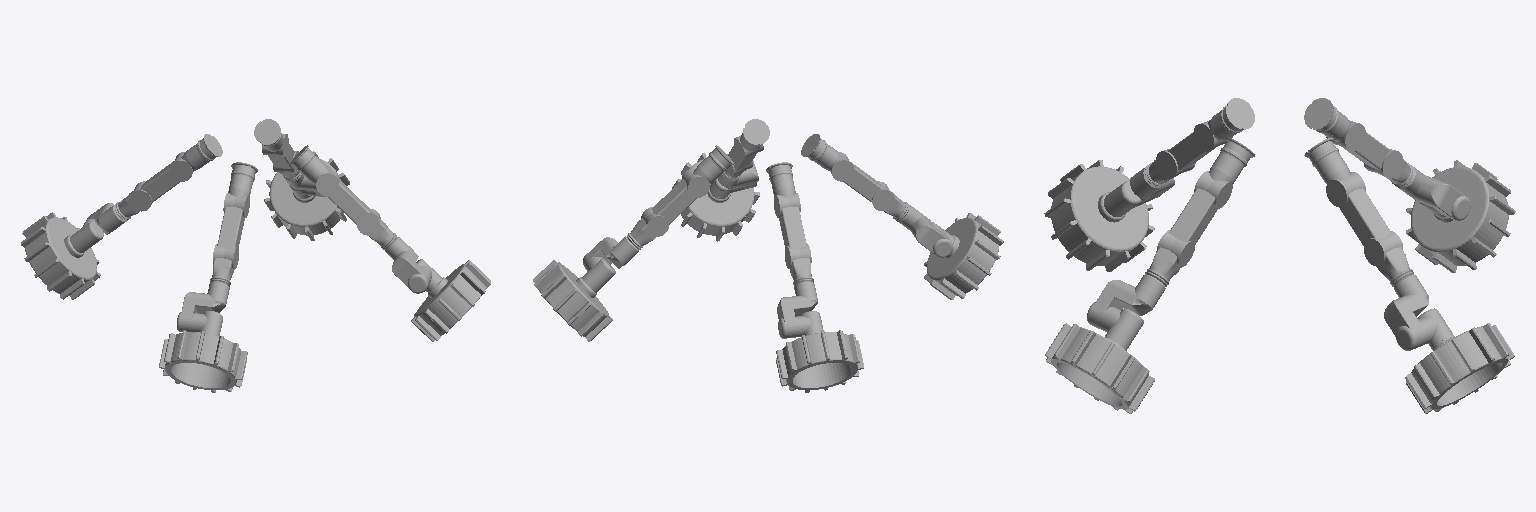
--- Render facts (derived) ---
3 views of the same robot in one strip: view 1: azimuth 30°, elevation 25°; view 2: azimuth 150°, elevation 25°; view 3: azimuth 270°, elevation 25° (orthographic).
Model moonbot2 with 69 links and 68 joints (24 continuous, 44 fixed), rooted at base_link, posed every joint at zero.
Links seen in each view (by area): view 1: Limb2Wheel_1, Limb3Wheel_1, Limb0Wheel_1, Limb1Wheel_1, Limb0Pitch1B_2, Limb3Pitch1B_1, Limb3Roll2C_1, Limb0Roll2C_2, Limb0Pitch1B__1__1, Limb0Pitch1A_2, Limb3Pitch1A_1, Limb0Pitch1A__1__1 (+3 smaller); view 2: Limb2Wheel_1, Limb3Wheel_1, Limb1Wheel_1, Limb0Wheel_1, Limb1Pitch1B_1, Limb0Roll2C__1__1, Limb0Pitch1B__1__1, Limb3Pitch1B_1, Limb3Roll2C_1, LimbRoll2C__1__1, Limb1Pitch1A_1, Limb0Pitch1A__1__1 (+3 smaller); view 3: Limb3Wheel_1, Limb2Wheel_1, Limb1Wheel_1, Limb0Wheel_1, Limb1Pitch1B_1, Limb0Pitch1B_2, LimbRoll2C__1__1, Limb0Roll2C_2, Limb0Roll2C__1__1, Limb0Pitch1B__1__1, Limb3Pitch1B_1, Limb1Pitch1A_1 (+10 smaller).
Link boxes in pixels (x1,y1,x2,y2): Limb2Wheel_1: (21, 212, 100, 299); Limb3Wheel_1: (159, 330, 247, 392); Limb0Wheel_1: (411, 260, 490, 341); Limb1Wheel_1: (264, 151, 349, 240); Limb0Pitch1B_2: (328, 180, 380, 235); Limb3Pitch1B_1: (213, 207, 244, 269); Limb3Roll2C_1: (177, 289, 227, 331); Limb0Roll2C_2: (391, 243, 429, 293); Limb0Pitch1B__1__1: (129, 161, 179, 211); Limb0Pitch1A_2: (306, 162, 339, 196); Limb3Pitch1A_1: (223, 183, 250, 217); Limb0Pitch1A__1__1: (170, 148, 202, 181); Limb2Wheel_1: (776, 330, 863, 392); Limb3Wheel_1: (924, 213, 1003, 299); Limb1Wheel_1: (533, 260, 612, 341); Limb0Wheel_1: (672, 153, 759, 241); Limb1Pitch1B_1: (641, 179, 696, 236); Limb0Roll2C__1__1: (777, 289, 817, 338); Limb0Pitch1B__1__1: (779, 207, 811, 268); Limb3Pitch1B_1: (843, 162, 894, 210); Limb3Roll2C_1: (904, 210, 952, 257); LimbRoll2C__1__1: (583, 237, 632, 269); Limb1Pitch1A_1: (682, 162, 717, 197); Limb0Pitch1A__1__1: (773, 183, 800, 217); Limb3Wheel_1: (1044, 160, 1154, 271); Limb2Wheel_1: (1406, 160, 1515, 272); Limb1Wheel_1: (1405, 323, 1514, 413); Limb0Wheel_1: (1045, 323, 1154, 413); Limb1Pitch1B_1: (1340, 188, 1402, 266); Limb0Pitch1B_2: (1156, 188, 1217, 267); LimbRoll2C__1__1: (1384, 283, 1428, 350); Limb0Roll2C_2: (1087, 280, 1159, 329); Limb0Roll2C__1__1: (1405, 171, 1470, 220); Limb0Pitch1B__1__1: (1341, 132, 1402, 178); Limb3Pitch1B_1: (1156, 133, 1214, 178); Limb1Pitch1A_1: (1321, 161, 1365, 207).
Bounding box of the posed robot: 1.22 × 1.22 × 0.6333 m (x, y, z).
Meshes: 69 distinct files referenced, 68 mesh visuals loaded (68 binary STL); not drawn: 1 (reference not matched to a file when rendering).

robot.urdf — moonbot2:
<?xml version="1.0" ?>
<!-- =================================================================================== -->
<!-- |    This document was autogenerated by xacro from moonbot2.xacro                 | -->
<!-- |    EDITING THIS FILE BY HAND IS NOT RECOMMENDED                                 | -->
<!-- =================================================================================== -->
<robot name="moonbot2">
  <material name="silver">
    <color rgba="0.700 0.700 0.700 1.000"/>
  </material>
  <transmission name="Limb0Pitch2_tran">
    <type>transmission_interface/SimpleTransmission</type>
    <joint name="Limb0Pitch2">
      <hardwareInterface>hardware_interface/EffortJointInterface</hardwareInterface>
    </joint>
    <actuator name="Limb0Pitch2_actr">
      <hardwareInterface>hardware_interface/EffortJointInterface</hardwareInterface>
      <mechanicalReduction>1</mechanicalReduction>
    </actuator>
  </transmission>
  <transmission name="Limb0Pitch1_tran">
    <type>transmission_interface/SimpleTransmission</type>
    <joint name="Limb0Pitch1">
      <hardwareInterface>hardware_interface/EffortJointInterface</hardwareInterface>
    </joint>
    <actuator name="Limb0Pitch1_actr">
      <hardwareInterface>hardware_interface/EffortJointInterface</hardwareInterface>
      <mechanicalReduction>1</mechanicalReduction>
    </actuator>
  </transmission>
  <transmission name="Limb0Roll1_tran">
    <type>transmission_interface/SimpleTransmission</type>
    <joint name="Limb0Roll1">
      <hardwareInterface>hardware_interface/EffortJointInterface</hardwareInterface>
    </joint>
    <actuator name="Limb0Roll1_actr">
      <hardwareInterface>hardware_interface/EffortJointInterface</hardwareInterface>
      <mechanicalReduction>1</mechanicalReduction>
    </actuator>
  </transmission>
  <transmission name="Limb0Roll2_tran">
    <type>transmission_interface/SimpleTransmission</type>
    <joint name="Limb0Roll2">
      <hardwareInterface>hardware_interface/EffortJointInterface</hardwareInterface>
    </joint>
    <actuator name="Limb0Roll2_actr">
      <hardwareInterface>hardware_interface/EffortJointInterface</hardwareInterface>
      <mechanicalReduction>1</mechanicalReduction>
    </actuator>
  </transmission>
  <transmission name="Limb0Pitch3_tran">
    <type>transmission_interface/SimpleTransmission</type>
    <joint name="Limb0Pitch3">
      <hardwareInterface>hardware_interface/EffortJointInterface</hardwareInterface>
    </joint>
    <actuator name="Limb0Pitch3_actr">
      <hardwareInterface>hardware_interface/EffortJointInterface</hardwareInterface>
      <mechanicalReduction>1</mechanicalReduction>
    </actuator>
  </transmission>
  <transmission name="Limb0Roll3_tran">
    <type>transmission_interface/SimpleTransmission</type>
    <joint name="Limb0Roll3">
      <hardwareInterface>hardware_interface/EffortJointInterface</hardwareInterface>
    </joint>
    <actuator name="Limb0Roll3_actr">
      <hardwareInterface>hardware_interface/EffortJointInterface</hardwareInterface>
      <mechanicalReduction>1</mechanicalReduction>
    </actuator>
  </transmission>
  <transmission name="Revolute 53_tran">
    <type>transmission_interface/SimpleTransmission</type>
    <joint name="Revolute 53">
      <hardwareInterface>hardware_interface/EffortJointInterface</hardwareInterface>
    </joint>
    <actuator name="Revolute 53_actr">
      <hardwareInterface>hardware_interface/EffortJointInterface</hardwareInterface>
      <mechanicalReduction>1</mechanicalReduction>
    </actuator>
  </transmission>
  <transmission name="Limb1Pitch1_tran">
    <type>transmission_interface/SimpleTransmission</type>
    <joint name="Limb1Pitch1">
      <hardwareInterface>hardware_interface/EffortJointInterface</hardwareInterface>
    </joint>
    <actuator name="Limb1Pitch1_actr">
      <hardwareInterface>hardware_interface/EffortJointInterface</hardwareInterface>
      <mechanicalReduction>1</mechanicalReduction>
    </actuator>
  </transmission>
  <transmission name="Limb1Pitch2_tran">
    <type>transmission_interface/SimpleTransmission</type>
    <joint name="Limb1Pitch2">
      <hardwareInterface>hardware_interface/EffortJointInterface</hardwareInterface>
    </joint>
    <actuator name="Limb1Pitch2_actr">
      <hardwareInterface>hardware_interface/EffortJointInterface</hardwareInterface>
      <mechanicalReduction>1</mechanicalReduction>
    </actuator>
  </transmission>
  <transmission name="Limb1Roll2_tran">
    <type>transmission_interface/SimpleTransmission</type>
    <joint name="Limb1Roll2">
      <hardwareInterface>hardware_interface/EffortJointInterface</hardwareInterface>
    </joint>
    <actuator name="Limb1Roll2_actr">
      <hardwareInterface>hardware_interface/EffortJointInterface</hardwareInterface>
      <mechanicalReduction>1</mechanicalReduction>
    </actuator>
  </transmission>
  <transmission name="Revolute 63_tran">
    <type>transmission_interface/SimpleTransmission</type>
    <joint name="Revolute 63">
      <hardwareInterface>hardware_interface/EffortJointInterface</hardwareInterface>
    </joint>
    <actuator name="Revolute 63_actr">
      <hardwareInterface>hardware_interface/EffortJointInterface</hardwareInterface>
      <mechanicalReduction>1</mechanicalReduction>
    </actuator>
  </transmission>
  <transmission name="Revolute 65_tran">
    <type>transmission_interface/SimpleTransmission</type>
    <joint name="Revolute 65">
      <hardwareInterface>hardware_interface/EffortJointInterface</hardwareInterface>
    </joint>
    <actuator name="Revolute 65_actr">
      <hardwareInterface>hardware_interface/EffortJointInterface</hardwareInterface>
      <mechanicalReduction>1</mechanicalReduction>
    </actuator>
  </transmission>
  <transmission name="Limb3Roll1_tran">
    <type>transmission_interface/SimpleTransmission</type>
    <joint name="Limb3Roll1">
      <hardwareInterface>hardware_interface/EffortJointInterface</hardwareInterface>
    </joint>
    <actuator name="Limb3Roll1_actr">
      <hardwareInterface>hardware_interface/EffortJointInterface</hardwareInterface>
      <mechanicalReduction>1</mechanicalReduction>
    </actuator>
  </transmission>
  <transmission name="Limb3Pitch1_tran">
    <type>transmission_interface/SimpleTransmission</type>
    <joint name="Limb3Pitch1">
      <hardwareInterface>hardware_interface/EffortJointInterface</hardwareInterface>
    </joint>
    <actuator name="Limb3Pitch1_actr">
      <hardwareInterface>hardware_interface/EffortJointInterface</hardwareInterface>
      <mechanicalReduction>1</mechanicalReduction>
    </actuator>
  </transmission>
  <transmission name="Limb3Pitch2_tran">
    <type>transmission_interface/SimpleTransmission</type>
    <joint name="Limb3Pitch2">
      <hardwareInterface>hardware_interface/EffortJointInterface</hardwareInterface>
    </joint>
    <actuator name="Limb3Pitch2_actr">
      <hardwareInterface>hardware_interface/EffortJointInterface</hardwareInterface>
      <mechanicalReduction>1</mechanicalReduction>
    </actuator>
  </transmission>
  <transmission name="Limb3Roll2_tran">
    <type>transmission_interface/SimpleTransmission</type>
    <joint name="Limb3Roll2">
      <hardwareInterface>hardware_interface/EffortJointInterface</hardwareInterface>
    </joint>
    <actuator name="Limb3Roll2_actr">
      <hardwareInterface>hardware_interface/EffortJointInterface</hardwareInterface>
      <mechanicalReduction>1</mechanicalReduction>
    </actuator>
  </transmission>
  <transmission name="Limb3Pitch3_tran">
    <type>transmission_interface/SimpleTransmission</type>
    <joint name="Limb3Pitch3">
      <hardwareInterface>hardware_interface/EffortJointInterface</hardwareInterface>
    </joint>
    <actuator name="Limb3Pitch3_actr">
      <hardwareInterface>hardware_interface/EffortJointInterface</hardwareInterface>
      <mechanicalReduction>1</mechanicalReduction>
    </actuator>
  </transmission>
  <transmission name="Limb3Roll3_tran">
    <type>transmission_interface/SimpleTransmission</type>
    <joint name="Limb3Roll3">
      <hardwareInterface>hardware_interface/EffortJointInterface</hardwareInterface>
    </joint>
    <actuator name="Limb3Roll3_actr">
      <hardwareInterface>hardware_interface/EffortJointInterface</hardwareInterface>
      <mechanicalReduction>1</mechanicalReduction>
    </actuator>
  </transmission>
  <transmission name="Limb2Roll1_tran">
    <type>transmission_interface/SimpleTransmission</type>
    <joint name="Limb2Roll1">
      <hardwareInterface>hardware_interface/EffortJointInterface</hardwareInterface>
    </joint>
    <actuator name="Limb2Roll1_actr">
      <hardwareInterface>hardware_interface/EffortJointInterface</hardwareInterface>
      <mechanicalReduction>1</mechanicalReduction>
    </actuator>
  </transmission>
  <transmission name="Limb2Pitch1_tran">
    <type>transmission_interface/SimpleTransmission</type>
    <joint name="Limb2Pitch1">
      <hardwareInterface>hardware_interface/EffortJointInterface</hardwareInterface>
    </joint>
    <actuator name="Limb2Pitch1_actr">
      <hardwareInterface>hardware_interface/EffortJointInterface</hardwareInterface>
      <mechanicalReduction>1</mechanicalReduction>
    </actuator>
  </transmission>
  <transmission name="Limb2Pitch2_tran">
    <type>transmission_interface/SimpleTransmission</type>
    <joint name="Limb2Pitch2">
      <hardwareInterface>hardware_interface/EffortJointInterface</hardwareInterface>
    </joint>
    <actuator name="Limb2Pitch2_actr">
      <hardwareInterface>hardware_interface/EffortJointInterface</hardwareInterface>
      <mechanicalReduction>1</mechanicalReduction>
    </actuator>
  </transmission>
  <transmission name="Limb2Roll2_tran">
    <type>transmission_interface/SimpleTransmission</type>
    <joint name="Limb2Roll2">
      <hardwareInterface>hardware_interface/EffortJointInterface</hardwareInterface>
    </joint>
    <actuator name="Limb2Roll2_actr">
      <hardwareInterface>hardware_interface/EffortJointInterface</hardwareInterface>
      <mechanicalReduction>1</mechanicalReduction>
    </actuator>
  </transmission>
  <transmission name="Limb2Pitch3_tran">
    <type>transmission_interface/SimpleTransmission</type>
    <joint name="Limb2Pitch3">
      <hardwareInterface>hardware_interface/EffortJointInterface</hardwareInterface>
    </joint>
    <actuator name="Limb2Pitch3_actr">
      <hardwareInterface>hardware_interface/EffortJointInterface</hardwareInterface>
      <mechanicalReduction>1</mechanicalReduction>
    </actuator>
  </transmission>
  <transmission name="Limb2Roll3_tran">
    <type>transmission_interface/SimpleTransmission</type>
    <joint name="Limb2Roll3">
      <hardwareInterface>hardware_interface/EffortJointInterface</hardwareInterface>
    </joint>
    <actuator name="Limb2Roll3_actr">
      <hardwareInterface>hardware_interface/EffortJointInterface</hardwareInterface>
      <mechanicalReduction>1</mechanicalReduction>
    </actuator>
  </transmission>
  <gazebo>
    <plugin filename="libgazebo_ros_control.so" name="control"/>
  </gazebo>
  <gazebo reference="base_link">
    <material>Gazebo/Silver</material>
    <mu1>0.2</mu1>
    <mu2>0.2</mu2>
    <selfCollide>true</selfCollide>
    <gravity>true</gravity>
  </gazebo>
  <gazebo reference="Body_connector_5">
    <material>Gazebo/Silver</material>
    <mu1>0.2</mu1>
    <mu2>0.2</mu2>
    <selfCollide>true</selfCollide>
  </gazebo>
  <gazebo reference="Limb0Connector2_2">
    <material>Gazebo/Silver</material>
    <mu1>0.2</mu1>
    <mu2>0.2</mu2>
    <selfCollide>true</selfCollide>
  </gazebo>
  <gazebo reference="Limb0Pitch2A_2">
    <material>Gazebo/Silver</material>
    <mu1>0.2</mu1>
    <mu2>0.2</mu2>
    <selfCollide>true</selfCollide>
  </gazebo>
  <gazebo reference="Limb0Pitch1B_2">
    <material>Gazebo/Silver</material>
    <mu1>0.2</mu1>
    <mu2>0.2</mu2>
    <selfCollide>true</selfCollide>
  </gazebo>
  <gazebo reference="Limb0Pitch1A_2">
    <material>Gazebo/Silver</material>
    <mu1>0.2</mu1>
    <mu2>0.2</mu2>
    <selfCollide>true</selfCollide>
  </gazebo>
  <gazebo reference="Limb0Roll1B_2">
    <material>Gazebo/Silver</material>
    <mu1>0.2</mu1>
    <mu2>0.2</mu2>
    <selfCollide>true</selfCollide>
  </gazebo>
  <gazebo reference="Limb0Connector3_3">
    <material>Gazebo/Silver</material>
    <mu1>0.2</mu1>
    <mu2>0.2</mu2>
    <selfCollide>true</selfCollide>
  </gazebo>
  <gazebo reference="Limb0Roll2A_3">
    <material>Gazebo/Silver</material>
    <mu1>0.2</mu1>
    <mu2>0.2</mu2>
    <selfCollide>true</selfCollide>
  </gazebo>
  <gazebo reference="Limb0Roll2B_2">
    <material>Gazebo/Silver</material>
    <mu1>0.2</mu1>
    <mu2>0.2</mu2>
    <selfCollide>true</selfCollide>
  </gazebo>
  <gazebo reference="Limb0Roll2C_2">
    <material>Gazebo/Silver</material>
    <mu1>0.2</mu1>
    <mu2>0.2</mu2>
    <selfCollide>true</selfCollide>
  </gazebo>
  <gazebo reference="Limb0Pitch3A_2">
    <material>Gazebo/Silver</material>
    <mu1>0.2</mu1>
    <mu2>0.2</mu2>
    <selfCollide>true</selfCollide>
  </gazebo>
  <gazebo reference="Limb0Pitch3B_2">
    <material>Gazebo/Silver</material>
    <mu1>0.2</mu1>
    <mu2>0.2</mu2>
    <selfCollide>true</selfCollide>
  </gazebo>
  <gazebo reference="Limb0Roll3A_2">
    <material>Gazebo/Silver</material>
    <mu1>0.2</mu1>
    <mu2>0.2</mu2>
    <selfCollide>true</selfCollide>
  </gazebo>
  <gazebo reference="Limb0Roll3B_2">
    <material>Gazebo/Silver</material>
    <mu1>0.2</mu1>
    <mu2>0.2</mu2>
    <selfCollide>true</selfCollide>
  </gazebo>
  <gazebo reference="Limb1Roll1B_1">
    <material>Gazebo/Silver</material>
    <mu1>0.2</mu1>
    <mu2>0.2</mu2>
    <selfCollide>true</selfCollide>
  </gazebo>
  <gazebo reference="Limb1Pitch1A_1">
    <material>Gazebo/Silver</material>
    <mu1>0.2</mu1>
    <mu2>0.2</mu2>
    <selfCollide>true</selfCollide>
  </gazebo>
  <gazebo reference="Limb1Pitch1B_1">
    <material>Gazebo/Silver</material>
    <mu1>0.2</mu1>
    <mu2>0.2</mu2>
    <selfCollide>true</selfCollide>
  </gazebo>
  <gazebo reference="Limb1Pitch2A_1">
    <material>Gazebo/Silver</material>
    <mu1>0.2</mu1>
    <mu2>0.2</mu2>
    <selfCollide>true</selfCollide>
  </gazebo>
  <gazebo reference="Limb1Connector2_1">
    <material>Gazebo/Silver</material>
    <mu1>0.2</mu1>
    <mu2>0.2</mu2>
    <selfCollide>true</selfCollide>
  </gazebo>
  <gazebo reference="Limb1Connector3_1">
    <material>Gazebo/Silver</material>
    <mu1>0.2</mu1>
    <mu2>0.2</mu2>
    <selfCollide>true</selfCollide>
  </gazebo>
  <gazebo reference="Limb1Roll2A_1">
    <material>Gazebo/Silver</material>
    <mu1>0.2</mu1>
    <mu2>0.2</mu2>
    <selfCollide>true</selfCollide>
  </gazebo>
  <gazebo reference="Limb1Roll2B_1">
    <material>Gazebo/Silver</material>
    <mu1>0.2</mu1>
    <mu2>0.2</mu2>
    <selfCollide>true</selfCollide>
  </gazebo>
  <gazebo reference="LimbRoll2C__1__1">
    <material>Gazebo/Silver</material>
    <mu1>0.2</mu1>
    <mu2>0.2</mu2>
    <selfCollide>true</selfCollide>
  </gazebo>
  <gazebo reference="Limb1Pitch3A_1">
    <material>Gazebo/Silver</material>
    <mu1>0.2</mu1>
    <mu2>0.2</mu2>
    <selfCollide>true</selfCollide>
  </gazebo>
  <gazebo reference="Limb1Pitch3B_1">
    <material>Gazebo/Silver</material>
    <mu1>0.2</mu1>
    <mu2>0.2</mu2>
    <selfCollide>true</selfCollide>
  </gazebo>
  <gazebo reference="Limb1Roll3A_1">
    <material>Gazebo/Silver</material>
    <mu1>0.2</mu1>
    <mu2>0.2</mu2>
    <selfCollide>true</selfCollide>
  </gazebo>
  <gazebo reference="Limb1Roll3B_1">
    <material>Gazebo/Silver</material>
    <mu1>0.2</mu1>
    <mu2>0.2</mu2>
    <selfCollide>true</selfCollide>
  </gazebo>
  <gazebo reference="Limb0Connector1_1">
    <material>Gazebo/Silver</material>
    <mu1>0.2</mu1>
    <mu2>0.2</mu2>
    <selfCollide>true</selfCollide>
  </gazebo>
  <gazebo reference="Body_connector__2__1">
    <material>Gazebo/Silver</material>
    <mu1>0.2</mu1>
    <mu2>0.2</mu2>
    <selfCollide>true</selfCollide>
  </gazebo>
  <gazebo reference="Limb0Roll1A_2">
    <material>Gazebo/Silver</material>
    <mu1>0.2</mu1>
    <mu2>0.2</mu2>
    <selfCollide>true</selfCollide>
  </gazebo>
  <gazebo reference="Limb1Roll1A_1">
    <material>Gazebo/Silver</material>
    <mu1>0.2</mu1>
    <mu2>0.2</mu2>
    <selfCollide>true</selfCollide>
  </gazebo>
  <gazebo reference="Limb1Connector1_1">
    <material>Gazebo/Silver</material>
    <mu1>0.2</mu1>
    <mu2>0.2</mu2>
    <selfCollide>true</selfCollide>
  </gazebo>
  <gazebo reference="Limb3BodyConnector_1">
    <material>Gazebo/Silver</material>
    <mu1>0.2</mu1>
    <mu2>0.2</mu2>
    <selfCollide>true</selfCollide>
  </gazebo>
  <gazebo reference="Body_connector__3__1">
    <material>Gazebo/Silver</material>
    <mu1>0.2</mu1>
    <mu2>0.2</mu2>
    <selfCollide>true</selfCollide>
  </gazebo>
  <gazebo reference="Limb3Roll1A_1">
    <material>Gazebo/Silver</material>
    <mu1>0.2</mu1>
    <mu2>0.2</mu2>
    <selfCollide>true</selfCollide>
  </gazebo>
  <gazebo reference="Limb3Roll1B_1">
    <material>Gazebo/Silver</material>
    <mu1>0.2</mu1>
    <mu2>0.2</mu2>
    <selfCollide>true</selfCollide>
  </gazebo>
  <gazebo reference="Limb3Pitch1A_1">
    <material>Gazebo/Silver</material>
    <mu1>0.2</mu1>
    <mu2>0.2</mu2>
    <selfCollide>true</selfCollide>
  </gazebo>
  <gazebo reference="Limb3Pitch1B_1">
    <material>Gazebo/Silver</material>
    <mu1>0.2</mu1>
    <mu2>0.2</mu2>
    <selfCollide>true</selfCollide>
  </gazebo>
  <gazebo reference="Limb3Pitch2A_1">
    <material>Gazebo/Silver</material>
    <mu1>0.2</mu1>
    <mu2>0.2</mu2>
    <selfCollide>true</selfCollide>
  </gazebo>
  <gazebo reference="Limb3Connector2_1">
    <material>Gazebo/Silver</material>
    <mu1>0.2</mu1>
    <mu2>0.2</mu2>
    <selfCollide>true</selfCollide>
  </gazebo>
  <gazebo reference="Limb3Connector3_1">
    <material>Gazebo/Silver</material>
    <mu1>0.2</mu1>
    <mu2>0.2</mu2>
    <selfCollide>true</selfCollide>
  </gazebo>
  <gazebo reference="Limb3Roll2A_1">
    <material>Gazebo/Silver</material>
    <mu1>0.2</mu1>
    <mu2>0.2</mu2>
    <selfCollide>true</selfCollide>
  </gazebo>
  <gazebo reference="Limb3Roll2B_1">
    <material>Gazebo/Silver</material>
    <mu1>0.2</mu1>
    <mu2>0.2</mu2>
    <selfCollide>true</selfCollide>
  </gazebo>
  <gazebo reference="Limb3Roll2C_1">
    <material>Gazebo/Silver</material>
    <mu1>0.2</mu1>
    <mu2>0.2</mu2>
    <selfCollide>true</selfCollide>
  </gazebo>
  <gazebo reference="Limb3Pitch3A_1">
    <material>Gazebo/Silver</material>
    <mu1>0.2</mu1>
    <mu2>0.2</mu2>
    <selfCollide>true</selfCollide>
  </gazebo>
  <gazebo reference="Limb3Pitch3B_1">
    <material>Gazebo/Silver</material>
    <mu1>0.2</mu1>
    <mu2>0.2</mu2>
    <selfCollide>true</selfCollide>
  </gazebo>
  <gazebo reference="Limb3Roll3A_1">
    <material>Gazebo/Silver</material>
    <mu1>0.2</mu1>
    <mu2>0.2</mu2>
    <selfCollide>true</selfCollide>
  </gazebo>
  <gazebo reference="Limb3Roll3B_1">
    <material>Gazebo/Silver</material>
    <mu1>0.2</mu1>
    <mu2>0.2</mu2>
    <selfCollide>true</selfCollide>
  </gazebo>
  <gazebo reference="Limb0Connector1__1__1">
    <material>Gazebo/Silver</material>
    <mu1>0.2</mu1>
    <mu2>0.2</mu2>
    <selfCollide>true</selfCollide>
  </gazebo>
  <gazebo reference="Limb0Roll1A__1__1">
    <material>Gazebo/Silver</material>
    <mu1>0.2</mu1>
    <mu2>0.2</mu2>
    <selfCollide>true</selfCollide>
  </gazebo>
  <gazebo reference="Limb0Roll1B__1__1">
    <material>Gazebo/Silver</material>
    <mu1>0.2</mu1>
    <mu2>0.2</mu2>
    <selfCollide>true</selfCollide>
  </gazebo>
  <gazebo reference="Limb0Pitch1A__1__1">
    <material>Gazebo/Silver</material>
    <mu1>0.2</mu1>
    <mu2>0.2</mu2>
    <selfCollide>true</selfCollide>
  </gazebo>
  <gazebo reference="Limb0Pitch1B__1__1">
    <material>Gazebo/Silver</material>
    <mu1>0.2</mu1>
    <mu2>0.2</mu2>
    <selfCollide>true</selfCollide>
  </gazebo>
  <gazebo reference="Limb0Pitch2A__1__1">
    <material>Gazebo/Silver</material>
    <mu1>0.2</mu1>
    <mu2>0.2</mu2>
    <selfCollide>true</selfCollide>
  </gazebo>
  <gazebo reference="Limb0Connector2__1__1">
    <material>Gazebo/Silver</material>
    <mu1>0.2</mu1>
    <mu2>0.2</mu2>
    <selfCollide>true</selfCollide>
  </gazebo>
  <gazebo reference="Limb0Connector3__1__1">
    <material>Gazebo/Silver</material>
    <mu1>0.2</mu1>
    <mu2>0.2</mu2>
    <selfCollide>true</selfCollide>
  </gazebo>
  <gazebo reference="Limb0Roll2A__1__1">
    <material>Gazebo/Silver</material>
    <mu1>0.2</mu1>
    <mu2>0.2</mu2>
    <selfCollide>true</selfCollide>
  </gazebo>
  <gazebo reference="Limb0Roll2B__1__1">
    <material>Gazebo/Silver</material>
    <mu1>0.2</mu1>
    <mu2>0.2</mu2>
    <selfCollide>true</selfCollide>
  </gazebo>
  <gazebo reference="Limb0Roll2C__1__1">
    <material>Gazebo/Silver</material>
    <mu1>0.2</mu1>
    <mu2>0.2</mu2>
    <selfCollide>true</selfCollide>
  </gazebo>
  <gazebo reference="Limb0Pitch3A__1__1">
    <material>Gazebo/Silver</material>
    <mu1>0.2</mu1>
    <mu2>0.2</mu2>
    <selfCollide>true</selfCollide>
  </gazebo>
  <gazebo reference="Limb0Pitch3B__1__1">
    <material>Gazebo/Silver</material>
    <mu1>0.2</mu1>
    <mu2>0.2</mu2>
    <selfCollide>true</selfCollide>
  </gazebo>
  <gazebo reference="Limb0Roll3A__1__1">
    <material>Gazebo/Silver</material>
    <mu1>0.2</mu1>
    <mu2>0.2</mu2>
    <selfCollide>true</selfCollide>
  </gazebo>
  <gazebo reference="Limb0Roll3B__1__1">
    <material>Gazebo/Silver</material>
    <mu1>0.2</mu1>
    <mu2>0.2</mu2>
    <selfCollide>true</selfCollide>
  </gazebo>
  <gazebo reference="Limb3Wheel_1">
    <material>Gazebo/Silver</material>
    <mu1>0.2</mu1>
    <mu2>0.2</mu2>
    <selfCollide>true</selfCollide>
  </gazebo>
  <gazebo reference="Limb2Wheel_1">
    <material>Gazebo/Silver</material>
    <mu1>0.2</mu1>
    <mu2>0.2</mu2>
    <selfCollide>true</selfCollide>
  </gazebo>
  <gazebo reference="Limb0Wheel_1">
    <material>Gazebo/Silver</material>
    <mu1>0.2</mu1>
    <mu2>0.2</mu2>
    <selfCollide>true</selfCollide>
  </gazebo>
  <gazebo reference="Limb1Wheel_1">
    <material>Gazebo/Silver</material>
    <mu1>0.2</mu1>
    <mu2>0.2</mu2>
    <selfCollide>true</selfCollide>
  </gazebo>
  <gazebo reference="Connector4_1">
    <material>Gazebo/Silver</material>
    <mu1>0.2</mu1>
    <mu2>0.2</mu2>
    <selfCollide>true</selfCollide>
  </gazebo>
  <link name="base_link">
    <inertial>
      <origin rpy="0 0 0" xyz="-0.002718753748846342 -0.002205739141353069 0.7033681348241015"/>
      <mass value="83.58553795695674"/>
      <inertia ixx="0.627961" ixy="6e-06" ixz="0.001498" iyy="0.622623" iyz="-1.7e-05" izz="0.957797"/>
    </inertial>
    <visual>
      <origin rpy="0 0 0" xyz="0 0 0"/>
      <geometry>
        <mesh filename="package://rviz_basic/meshes/base_link.stl" scale="0.001 0.001 0.001"/>
      </geometry>
      <material name="silver"/>
    </visual>
    <collision>
      <origin rpy="0 0 0" xyz="0 0 0"/>
      <geometry>
        <mesh filename="package://rviz_basic/meshes/base_link.stl" scale="0.001 0.001 0.001"/>
      </geometry>
    </collision>
  </link>
  <link name="Body_connector_5">
    <inertial>
      <origin rpy="0 0 0" xyz="-0.00677930927205897 0.006691164760938034 -0.00852535545613553"/>
      <mass value="1.00227146305622"/>
      <inertia ixx="0.000536" ixy="-8.8e-05" ixz="0.000112" iyy="0.000536" iyz="-0.000112" izz="0.00059"/>
    </inertial>
    <visual>
      <origin rpy="0 0 0" xyz="0.104123 -0.099642 -0.676307"/>
      <geometry>
        <mesh filename="package://rviz_basic/meshes/Body_connector_5.stl" scale="0.001 0.001 0.001"/>
      </geometry>
      <material name="silver"/>
    </visual>
    <collision>
      <origin rpy="0 0 0" xyz="0.104123 -0.099642 -0.676307"/>
      <geometry>
        <mesh filename="package://rviz_basic/meshes/Body_connector_5.stl" scale="0.001 0.001 0.001"/>
      </geometry>
    </collision>
  </link>
  <link name="Limb0Connector2_2">
    <inertial>
      <origin rpy="0 0 0" xyz="0.002103021656725712 -0.00210349984971947 -0.0026738550137934136"/>
      <mass value="0.028818583393616055"/>
      <inertia ixx="1e-05" ixy="-2e-06" ixz="-3e-06" iyy="1e-05" iyz="3e-06" izz="1.1e-05"/>
    </inertial>
    <visual>
      <origin rpy="0 0 0" xyz="-0.311981 0.316466 -0.406184"/>
      <geometry>
        <mesh filename="package://rviz_basic/meshes/Limb0Connector2_2.stl" scale="0.001 0.001 0.001"/>
      </geometry>
      <material name="silver"/>
    </visual>
    <collision>
      <origin rpy="0 0 0" xyz="-0.311981 0.316466 -0.406184"/>
      <geometry>
        <mesh filename="package://rviz_basic/meshes/Limb0Connector2_2.stl" scale="0.001 0.001 0.001"/>
      </geometry>
    </collision>
  </link>
  <link name="Limb0Pitch2A_2">
    <inertial>
      <origin rpy="0 0 0" xyz="0.029959620301540757 -0.029959103553448052 -0.03808776464443614"/>
      <mass value="0.18660217560053788"/>
      <inertia ixx="9.9e-05" ixy="-0.0" ixz="-4e-06" iyy="0.000101" iyz="2e-06" izz="0.0001"/>
    </inertial>
    <visual>
      <origin rpy="0 0 0" xyz="-0.267282 0.271768 -0.46301"/>
      <geometry>
        <mesh filename="package://rviz_basic/meshes/Limb0Pitch2A_2.stl" scale="0.001 0.001 0.001"/>
      </geometry>
      <material name="silver"/>
    </visual>
    <collision>
      <origin rpy="0 0 0" xyz="-0.267282 0.271768 -0.46301"/>
      <geometry>
        <mesh filename="package://rviz_basic/meshes/Limb0Pitch2A_2.stl" scale="0.001 0.001 0.001"/>
      </geometry>
    </collision>
  </link>
  <link name="Limb0Pitch1B_2">
    <inertial>
      <origin rpy="0 0 0" xyz="0.06822924852709525 -0.0682287306107931 -0.0867406044238917"/>
      <mass value="0.7729993259283914"/>
      <inertia ixx="0.001978" ixy="0.000552" ixz="0.000714" iyy="0.001971" iyz="-0.000709" izz="0.001637"/>
    </inertial>
    <visual>
      <origin rpy="0 0 0" xyz="-0.169998 0.174484 -0.586689"/>
      <geometry>
        <mesh filename="package://rviz_basic/meshes/Limb0Pitch1B_2.stl" scale="0.001 0.001 0.001"/>
      </geometry>
      <material name="silver"/>
    </visual>
    <collision>
      <origin rpy="0 0 0" xyz="-0.169998 0.174484 -0.586689"/>
      <geometry>
        <mesh filename="package://rviz_basic/meshes/Limb0Pitch1B_2.stl" scale="0.001 0.001 0.001"/>
      </geometry>
    </collision>
  </link>
  <link name="Limb0Pitch1A_2">
    <inertial>
      <origin rpy="0 0 0" xyz="0.02622252256340238 -0.026226373841744727 -0.03333985784790783"/>
      <mass value="3.3477117479193077"/>
      <inertia ixx="0.003424" ixy="0.000327" ixz="0.000518" iyy="0.003364" iyz="-0.000471" izz="0.003217"/>
    </inertial>
    <visual>
      <origin rpy="0 0 0" xyz="-0.135835 0.140315 -0.630126"/>
      <geometry>
        <mesh filename="package://rviz_basic/meshes/Limb0Pitch1A_2.stl" scale="0.001 0.001 0.001"/>
      </geometry>
      <material name="silver"/>
    </visual>
    <collision>
      <origin rpy="0 0 0" xyz="-0.135835 0.140315 -0.630126"/>
      <geometry>
        <mesh filename="package://rviz_basic/meshes/Limb0Pitch1A_2.stl" scale="0.001 0.001 0.001"/>
      </geometry>
    </collision>
  </link>
  <link name="Limb0Roll1B_2">
    <inertial>
      <origin rpy="0 0 0" xyz="0.0013142684746978994 -0.0013146802594786178 -0.0016713372811122396"/>
      <mass value="0.1621742617893587"/>
      <inertia ixx="6.8e-05" ixy="-1.5e-05" ixz="-1.9e-05" iyy="6.8e-05" iyz="1.9e-05" izz="7.7e-05"/>
    </inertial>
    <visual>
      <origin rpy="0 0 0" xyz="-0.133206 0.137686 -0.633469"/>
      <geometry>
        <mesh filename="package://rviz_basic/meshes/Limb0Roll1B_2.stl" scale="0.001 0.001 0.001"/>
      </geometry>
      <material name="silver"/>
    </visual>
    <collision>
      <origin rpy="0 0 0" xyz="-0.133206 0.137686 -0.633469"/>
      <geometry>
        <mesh filename="package://rviz_basic/meshes/Limb0Roll1B_2.stl" scale="0.001 0.001 0.001"/>
      </geometry>
    </collision>
  </link>
  <link name="Limb0Connector3_3">
    <inertial>
      <origin rpy="0 0 0" xyz="0.0020728386970867985 -0.0020723168893330146 -0.0026346561677129676"/>
      <mass value="0.028067093486926365"/>
      <inertia ixx="1e-05" ixy="-2e-06" ixz="-3e-06" iyy="1e-05" iyz="3e-06" izz="1.1e-05"/>
    </inertial>
    <visual>
      <origin rpy="0 0 0" xyz="-0.316187 0.320673 -0.400836"/>
      <geometry>
        <mesh filename="package://rviz_basic/meshes/Limb0Connector3_3.stl" scale="0.001 0.001 0.001"/>
      </geometry>
      <material name="silver"/>
    </visual>
    <collision>
      <origin rpy="0 0 0" xyz="-0.316187 0.320673 -0.400836"/>
      <geometry>
        <mesh filename="package://rviz_basic/meshes/Limb0Connector3_3.stl" scale="0.001 0.001 0.001"/>
      </geometry>
    </collision>
  </link>
  <link name="Limb0Roll2A_3">
    <inertial>
      <origin rpy="0 0 0" xyz="0.006681624363454208 -0.006681102554122131 -0.008494343828823636"/>
      <mass value="0.09449902324417689"/>
      <inertia ixx="3.8e-05" ixy="-6e-06" ixz="-8e-06" iyy="3.8e-05" iyz="8e-06" izz="4.2e-05"/>
    </inertial>
    <visual>
      <origin rpy="0 0 0" xyz="-0.320394 0.32488 -0.395488"/>
      <geometry>
        <mesh filename="package://rviz_basic/meshes/Limb0Roll2A_3.stl" scale="0.001 0.001 0.001"/>
      </geometry>
      <material name="silver"/>
    </visual>
    <collision>
      <origin rpy="0 0 0" xyz="-0.320394 0.32488 -0.395488"/>
      <geometry>
        <mesh filename="package://rviz_basic/meshes/Limb0Roll2A_3.stl" scale="0.001 0.001 0.001"/>
      </geometry>
    </collision>
  </link>
  <link name="Limb0Roll2B_2">
    <inertial>
      <origin rpy="0 0 0" xyz="0.0013145066946149697 -0.001314984883888537 -0.0016710665060420404"/>
      <mass value="0.14254348347132964"/>
      <inertia ixx="5.3e-05" ixy="-1.1e-05" ixz="-1.4e-05" iyy="5.3e-05" iyz="1.4e-05" izz="6e-05"/>
    </inertial>
    <visual>
      <origin rpy="0 0 0" xyz="-0.333541 0.338026 -0.378774"/>
      <geometry>
        <mesh filename="package://rviz_basic/meshes/Limb0Roll2B_2.stl" scale="0.001 0.001 0.001"/>
      </geometry>
      <material name="silver"/>
    </visual>
    <collision>
      <origin rpy="0 0 0" xyz="-0.333541 0.338026 -0.378774"/>
      <geometry>
        <mesh filename="package://rviz_basic/meshes/Limb0Roll2B_2.stl" scale="0.001 0.001 0.001"/>
      </geometry>
    </collision>
  </link>
  <link name="Limb0Roll2C_2">
    <inertial>
      <origin rpy="0 0 0" xyz="-0.0003246307642108537 -0.07136701847741012 -0.03596102418659597"/>
      <mass value="5.5447698039525"/>
      <inertia ixx="0.015358" ixy="-0.000788" ixz="0.000257" iyy="0.006867" iyz="-0.004143" izz="0.01392"/>
    </inertial>
    <visual>
      <origin rpy="0 0 0" xyz="-0.33617 0.340656 -0.375432"/>
      <geometry>
        <mesh filename="package://rviz_basic/meshes/Limb0Roll2C_2.stl" scale="0.001 0.001 0.001"/>
      </geometry>
      <material name="silver"/>
    </visual>
    <collision>
      <origin rpy="0 0 0" xyz="-0.33617 0.340656 -0.375432"/>
      <geometry>
        <mesh filename="package://rviz_basic/meshes/Limb0Roll2C_2.stl" scale="0.001 0.001 0.001"/>
      </geometry>
    </collision>
  </link>
  <link name="Limb0Pitch3A_2">
    <inertial>
      <origin rpy="0 0 0" xyz="0.0007974074761619154 0.00095487844214176 -0.0001240472342625143"/>
      <mass value="0.07127174173566476"/>
      <inertia ixx="2.9e-05" ixy="1e-05" ixz="-1e-06" iyy="3.3e-05" iyz="-2e-06" izz="2.1e-05"/>
    </inertial>
    <visual>
      <origin rpy="0 0 0" xyz="-0.36158 0.443149 -0.304018"/>
      <geometry>
        <mesh filename="package://rviz_basic/meshes/Limb0Pitch3A_2.stl" scale="0.001 0.001 0.001"/>
      </geometry>
      <material name="silver"/>
    </visual>
    <collision>
      <origin rpy="0 0 0" xyz="-0.36158 0.443149 -0.304018"/>
      <geometry>
        <mesh filename="package://rviz_basic/meshes/Limb0Pitch3A_2.stl" scale="0.001 0.001 0.001"/>
      </geometry>
    </collision>
  </link>
  <link name="Limb0Pitch3B_2">
    <inertial>
      <origin rpy="0 0 0" xyz="0.0007972556022602384 0.000954808730158685 -0.0001246723453181553"/>
      <mass value="0.07127174173566476"/>
      <inertia ixx="2.9e-05" ixy="1e-05" ixz="-1e-06" iyy="3.3e-05" iyz="-2e-06" izz="2.1e-05"/>
    </inertial>
    <visual>
      <origin rpy="0 0 0" xyz="-0.363174 0.441239 -0.30377"/>
      <geometry>
        <mesh filename="package://rviz_basic/meshes/Limb0Pitch3B_2.stl" scale="0.001 0.001 0.001"/>
      </geometry>
      <material name="silver"/>
    </visual>
    <collision>
      <origin rpy="0 0 0" xyz="-0.363174 0.441239 -0.30377"/>
      <geometry>
        <mesh filename="package://rviz_basic/meshes/Limb0Pitch3B_2.stl" scale="0.001 0.001 0.001"/>
      </geometry>
    </collision>
  </link>
  <link name="Limb0Roll3A_2">
    <inertial>
      <origin rpy="0 0 0" xyz="0.02690119223229953 0.03172481863983617 -0.004455451652114806"/>
      <mass value="2.8490901932138626"/>
      <inertia ixx="0.002365" ixy="-0.000127" ixz="0.000201" iyy="0.002287" iyz="-0.000118" izz="0.002499"/>
    </inertial>
    <visual>
      <origin rpy="0 0 0" xyz="-0.364768 0.439329 -0.303521"/>
      <geometry>
        <mesh filename="package://rviz_basic/meshes/Limb0Roll3A_2.stl" scale="0.001 0.001 0.001"/>
      </geometry>
      <material name="silver"/>
    </visual>
    <collision>
      <origin rpy="0 0 0" xyz="-0.364768 0.439329 -0.303521"/>
      <geometry>
        <mesh filename="package://rviz_basic/meshes/Limb0Roll3A_2.stl" scale="0.001 0.001 0.001"/>
      </geometry>
    </collision>
  </link>
  <link name="Limb0Roll3B_2">
    <inertial>
      <origin rpy="0 0 0" xyz="0.002628818559336943 -0.0026292967333145234 -0.003342328974139386"/>
      <mass value="0.28508696694265934"/>
      <inertia ixx="0.000107" ixy="-2.2e-05" ixz="-2.8e-05" iyy="0.000107" iyz="2.8e-05" izz="0.000121"/>
    </inertial>
    <visual>
      <origin rpy="0 0 0" xyz="-0.417679 0.422164 -0.271808"/>
      <geometry>
        <mesh filename="package://rviz_basic/meshes/Limb0Roll3B_2.stl" scale="0.001 0.001 0.001"/>
      </geometry>
      <material name="silver"/>
    </visual>
    <collision>
      <origin rpy="0 0 0" xyz="-0.417679 0.422164 -0.271808"/>
      <geometry>
        <mesh filename="package://rviz_basic/meshes/Limb0Roll3B_2.stl" scale="0.001 0.001 0.001"/>
      </geometry>
    </collision>
  </link>
  <link name="Limb1Roll1B_1">
    <inertial>
      <origin rpy="0 0 0" xyz="0.001314715250233106 0.0013146995287366126 -0.0016716503046055875"/>
      <mass value="0.1621742617893587"/>
      <inertia ixx="6.8e-05" ixy="1.5e-05" ixz="-1.9e-05" iyy="6.8e-05" iyz="-1.9e-05" izz="7.7e-05"/>
    </inertial>
    <visual>
      <origin rpy="0 0 0" xyz="-0.133236 -0.133352 -0.633562"/>
      <geometry>
        <mesh filename="package://rviz_basic/meshes/Limb1Roll1B_1.stl" scale="0.001 0.001 0.001"/>
      </geometry>
      <material name="silver"/>
    </visual>
    <collision>
      <origin rpy="0 0 0" xyz="-0.133236 -0.133352 -0.633562"/>
      <geometry>
        <mesh filename="package://rviz_basic/meshes/Limb1Roll1B_1.stl" scale="0.001 0.001 0.001"/>
      </geometry>
    </collision>
  </link>
  <link name="Limb1Pitch1A_1">
    <inertial>
      <origin rpy="0 0 0" xyz="0.026225903022392 0.02622280443795691 -0.03334068607561047"/>
      <mass value="3.3477117479193077"/>
      <inertia ixx="0.003389" ixy="-0.000316" ixz="0.000499" iyy="0.003392" iyz="0.000501" izz="0.003225"/>
    </inertial>
    <visual>
      <origin rpy="0 0 0" xyz="-0.135865 -0.135981 -0.630219"/>
      <geometry>
        <mesh filename="package://rviz_basic/meshes/Limb1Pitch1A_1.stl" scale="0.001 0.001 0.001"/>
      </geometry>
      <material name="silver"/>
    </visual>
    <collision>
      <origin rpy="0 0 0" xyz="-0.135865 -0.135981 -0.630219"/>
      <geometry>
        <mesh filename="package://rviz_basic/meshes/Limb1Pitch1A_1.stl" scale="0.001 0.001 0.001"/>
      </geometry>
    </collision>
  </link>
  <link name="Limb1Pitch1B_1">
    <inertial>
      <origin rpy="0 0 0" xyz="0.06822898471093783 0.0682285127569274 -0.08674066290451965"/>
      <mass value="0.7729993259283914"/>
      <inertia ixx="0.001974" ixy="-0.000551" ixz="0.000712" iyy="0.001974" iyz="0.000712" izz="0.001638"/>
    </inertial>
    <visual>
      <origin rpy="0 0 0" xyz="-0.170033 -0.170145 -0.586781"/>
      <geometry>
        <mesh filename="package://rviz_basic/meshes/Limb1Pitch1B_1.stl" scale="0.001 0.001 0.001"/>
      </geometry>
      <material name="silver"/>
    </visual>
    <collision>
      <origin rpy="0 0 0" xyz="-0.170033 -0.170145 -0.586781"/>
      <geometry>
        <mesh filename="package://rviz_basic/meshes/Limb1Pitch1B_1.stl" scale="0.001 0.001 0.001"/>
      </geometry>
    </collision>
  </link>
  <link name="Limb1Pitch2A_1">
    <inertial>
      <origin rpy="0 0 0" xyz="0.029959346570444356 0.029958879463168275 -0.03808783582946196"/>
      <mass value="0.18660217560053788"/>
      <inertia ixx="0.0001" ixy="-0.0" ixz="-3e-06" iyy="0.0001" iyz="-3e-06" izz="9.9e-05"/>
    </inertial>
    <visual>
      <origin rpy="0 0 0" xyz="-0.267317 -0.267429 -0.463102"/>
      <geometry>
        <mesh filename="package://rviz_basic/meshes/Limb1Pitch2A_1.stl" scale="0.001 0.001 0.001"/>
      </geometry>
      <material name="silver"/>
    </visual>
    <collision>
      <origin rpy="0 0 0" xyz="-0.267317 -0.267429 -0.463102"/>
      <geometry>
        <mesh filename="package://rviz_basic/meshes/Limb1Pitch2A_1.stl" scale="0.001 0.001 0.001"/>
      </geometry>
    </collision>
  </link>
  <link name="Limb1Connector2_1">
    <inertial>
      <origin rpy="0 0 0" xyz="0.0021037524558481513 0.002103278638910855 -0.002673920370475591"/>
      <mass value="0.028818583393616055"/>
      <inertia ixx="1e-05" ixy="2e-06" ixz="-3e-06" iyy="1e-05" iyz="-3e-06" izz="1.1e-05"/>
    </inertial>
    <visual>
      <origin rpy="0 0 0" xyz="-0.312015 -0.312127 -0.406276"/>
      <geometry>
        <mesh filename="package://rviz_basic/meshes/Limb1Connector2_1.stl" scale="0.001 0.001 0.001"/>
      </geometry>
      <material name="silver"/>
    </visual>
    <collision>
      <origin rpy="0 0 0" xyz="-0.312015 -0.312127 -0.406276"/>
      <geometry>
        <mesh filename="package://rviz_basic/meshes/Limb1Connector2_1.stl" scale="0.001 0.001 0.001"/>
      </geometry>
    </collision>
  </link>
  <link name="Limb1Connector3_1">
    <inertial>
      <origin rpy="0 0 0" xyz="0.002072569494944443 0.002072095680584418 -0.002634721523767869"/>
      <mass value="0.028067093486926365"/>
      <inertia ixx="1e-05" ixy="2e-06" ixz="-3e-06" iyy="1e-05" iyz="-3e-06" izz="1.1e-05"/>
    </inertial>
    <visual>
      <origin rpy="0 0 0" xyz="-0.316222 -0.316334 -0.400928"/>
      <geometry>
        <mesh filename="package://rviz_basic/meshes/Limb1Connector3_1.stl" scale="0.001 0.001 0.001"/>
      </geometry>
      <material name="silver"/>
    </visual>
    <collision>
      <origin rpy="0 0 0" xyz="-0.316222 -0.316334 -0.400928"/>
      <geometry>
        <mesh filename="package://rviz_basic/meshes/Limb1Connector3_1.stl" scale="0.001 0.001 0.001"/>
      </geometry>
    </collision>
  </link>
  <link name="Limb1Roll2A_1">
    <inertial>
      <origin rpy="0 0 0" xyz="0.006681355158644264 0.006680881349721002 -0.008494409183558094"/>
      <mass value="0.09449902324417689"/>
      <inertia ixx="3.8e-05" ixy="6e-06" ixz="-8e-06" iyy="3.8e-05" iyz="-8e-06" izz="4.2e-05"/>
    </inertial>
    <visual>
      <origin rpy="0 0 0" xyz="-0.320429 -0.320541 -0.39558"/>
      <geometry>
        <mesh filename="package://rviz_basic/meshes/Limb1Roll2A_1.stl" scale="0.001 0.001 0.001"/>
      </geometry>
      <material name="silver"/>
    </visual>
    <collision>
      <origin rpy="0 0 0" xyz="-0.320429 -0.320541 -0.39558"/>
      <geometry>
        <mesh filename="package://rviz_basic/meshes/Limb1Roll2A_1.stl" scale="0.001 0.001 0.001"/>
      </geometry>
    </collision>
  </link>
  <link name="Limb1Roll2B_1">
    <inertial>
      <origin rpy="0 0 0" xyz="0.001314237487446246 0.0013147636833246157 -0.0016711318596070446"/>
      <mass value="0.14254348347132964"/>
      <inertia ixx="5.3e-05" ixy="1.1e-05" ixz="-1.4e-05" iyy="5.3e-05" iyz="-1.4e-05" izz="6e-05"/>
    </inertial>
    <visual>
      <origin rpy="0 0 0" xyz="-0.333576 -0.333687 -0.378866"/>
      <geometry>
        <mesh filename="package://rviz_basic/meshes/Limb1Roll2B_1.stl" scale="0.001 0.001 0.001"/>
      </geometry>
      <material name="silver"/>
    </visual>
    <collision>
      <origin rpy="0 0 0" xyz="-0.333576 -0.333687 -0.378866"/>
      <geometry>
        <mesh filename="package://rviz_basic/meshes/Limb1Roll2B_1.stl" scale="0.001 0.001 0.001"/>
      </geometry>
    </collision>
  </link>
  <link name="LimbRoll2C__1__1">
    <inertial>
      <origin rpy="0 0 0" xyz="0.06879531516956255 -0.0035389192688810023 -0.04051265787606534"/>
      <mass value="5.5447698039525"/>
      <inertia ixx="0.007579" ixy="0.001164" ixz="0.00462" iyy="0.015187" iyz="-5.5e-05" izz="0.013379"/>
    </inertial>
    <visual>
      <origin rpy="0 0 0" xyz="-0.336205 -0.336316 -0.375524"/>
      <geometry>
        <mesh filename="package://rviz_basic/meshes/LimbRoll2C__1__1.stl" scale="0.001 0.001 0.001"/>
      </geometry>
      <material name="silver"/>
    </visual>
    <collision>
      <origin rpy="0 0 0" xyz="-0.336205 -0.336316 -0.375524"/>
      <geometry>
        <mesh filename="package://rviz_basic/meshes/LimbRoll2C__1__1.stl" scale="0.001 0.001 0.001"/>
      </geometry>
    </collision>
  </link>
  <link name="Limb1Pitch3A_1">
    <inertial>
      <origin rpy="0 0 0" xyz="-0.000892133048895849 0.0008759498560332313 -1.2716647066313147e-05"/>
      <mass value="0.07127174173566476"/>
      <inertia ixx="3.1e-05" ixy="-1e-05" ixz="0.0" iyy="3.1e-05" iyz="-0.0" izz="2.1e-05"/>
    </inertial>
    <visual>
      <origin rpy="0 0 0" xyz="-0.435933 -0.35827 -0.299216"/>
      <geometry>
        <mesh filename="package://rviz_basic/meshes/Limb1Pitch3A_1.stl" scale="0.001 0.001 0.001"/>
      </geometry>
      <material name="silver"/>
    </visual>
    <collision>
      <origin rpy="0 0 0" xyz="-0.435933 -0.35827 -0.299216"/>
      <geometry>
        <mesh filename="package://rviz_basic/meshes/Limb1Pitch3A_1.stl" scale="0.001 0.001 0.001"/>
      </geometry>
    </collision>
  </link>
  <link name="Limb1Pitch3B_1">
    <inertial>
      <origin rpy="0 0 0" xyz="-0.0008923653274860999 0.0008759009880966451 -1.289505726209672e-05"/>
      <mass value="0.07127174173566476"/>
      <inertia ixx="3.1e-05" ixy="-1e-05" ixz="0.0" iyy="3.1e-05" iyz="-0.0" izz="2.1e-05"/>
    </inertial>
    <visual>
      <origin rpy="0 0 0" xyz="-0.434149 -0.360021 -0.29919"/>
      <geometry>
        <mesh filename="package://rviz_basic/meshes/Limb1Pitch3B_1.stl" scale="0.001 0.001 0.001"/>
      </geometry>
      <material name="silver"/>
    </visual>
    <collision>
      <origin rpy="0 0 0" xyz="-0.434149 -0.360021 -0.29919"/>
      <geometry>
        <mesh filename="package://rviz_basic/meshes/Limb1Pitch3B_1.stl" scale="0.001 0.001 0.001"/>
      </geometry>
    </collision>
  </link>
  <link name="Limb1Roll3A_1">
    <inertial>
      <origin rpy="0 0 0" xyz="-0.029622317213466032 0.029530074249443317 -0.0007334196749793631"/>
      <mass value="2.8490901932138626"/>
      <inertia ixx="0.002326" ixy="0.000133" ixz="0.000154" iyy="0.00232" iyz="0.000172" izz="0.002505"/>
    </inertial>
    <visual>
      <origin rpy="0 0 0" xyz="-0.432365 -0.361772 -0.299164"/>
      <geometry>
        <mesh filename="package://rviz_basic/meshes/Limb1Roll3A_1.stl" scale="0.001 0.001 0.001"/>
      </geometry>
      <material name="silver"/>
    </visual>
    <collision>
      <origin rpy="0 0 0" xyz="-0.432365 -0.361772 -0.299164"/>
      <geometry>
        <mesh filename="package://rviz_basic/meshes/Limb1Roll3A_1.stl" scale="0.001 0.001 0.001"/>
      </geometry>
    </collision>
  </link>
  <link name="Limb1Roll3B_1">
    <inertial>
      <origin rpy="0 0 0" xyz="0.002629549326306546 0.0026290755748996086 -0.0033423943148920277"/>
      <mass value="0.28508696694265934"/>
      <inertia ixx="0.000107" ixy="2.2e-05" ixz="-2.8e-05" iyy="0.000107" iyz="-2.8e-05" izz="0.000121"/>
    </inertial>
    <visual>
      <origin rpy="0 0 0" xyz="-0.417713 -0.417825 -0.2719"/>
      <geometry>
        <mesh filename="package://rviz_basic/meshes/Limb1Roll3B_1.stl" scale="0.001 0.001 0.001"/>
      </geometry>
      <material name="silver"/>
    </visual>
    <collision>
      <origin rpy="0 0 0" xyz="-0.417713 -0.417825 -0.2719"/>
      <geometry>
        <mesh filename="package://rviz_basic/meshes/Limb1Roll3B_1.stl" scale="0.001 0.001 0.001"/>
      </geometry>
    </collision>
  </link>
  <link name="Limb0Connector1_1">
    <inertial>
      <origin rpy="0 0 0" xyz="0.002882044955110477 -0.0028824567425736886 -0.0036644034918792423"/>
      <mass value="0.41151751450909346"/>
      <inertia ixx="0.000202" ixy="-4.2e-05" ixz="-5.4e-05" iyy="0.000202" iyz="5.4e-05" izz="0.000228"/>
    </inertial>
    <visual>
      <origin rpy="0 0 0" xyz="-0.113749 0.118229 -0.658205"/>
      <geometry>
        <mesh filename="package://rviz_basic/meshes/Limb0Connector1_1.stl" scale="0.001 0.001 0.001"/>
      </geometry>
      <material name="silver"/>
    </visual>
    <collision>
      <origin rpy="0 0 0" xyz="-0.113749 0.118229 -0.658205"/>
      <geometry>
        <mesh filename="package://rviz_basic/meshes/Limb0Connector1_1.stl" scale="0.001 0.001 0.001"/>
      </geometry>
    </collision>
  </link>
  <link name="Body_connector__2__1">
    <inertial>
      <origin rpy="0 0 0" xyz="0.006689645187671248 -0.006690019077090437 -0.008597503863414846"/>
      <mass value="1.00227146305622"/>
      <inertia ixx="0.000536" ixy="-8.8e-05" ixz="-0.000112" iyy="0.000536" iyz="0.000112" izz="0.00059"/>
    </inertial>
    <visual>
      <origin rpy="0 0 0" xyz="-0.099583 0.104063 -0.676307"/>
      <geometry>
        <mesh filename="package://rviz_basic/meshes/Body_connector__2__1.stl" scale="0.001 0.001 0.001"/>
      </geometry>
      <material name="silver"/>
    </visual>
    <collision>
      <origin rpy="0 0 0" xyz="-0.099583 0.104063 -0.676307"/>
      <geometry>
        <mesh filename="package://rviz_basic/meshes/Body_connector__2__1.stl" scale="0.001 0.001 0.001"/>
      </geometry>
    </collision>
  </link>
  <link name="Limb0Roll1A_2">
    <inertial>
      <origin rpy="0 0 0" xyz="0.0068180092992543295 -0.006817421085496864 -0.008667591900487825"/>
      <mass value="0.8458457350592995"/>
      <inertia ixx="0.000391" ixy="-6.4e-05" ixz="-8.1e-05" iyy="0.000391" iyz="8.1e-05" izz="0.00043"/>
    </inertial>
    <visual>
      <origin rpy="0 0 0" xyz="-0.119533 0.124014 -0.650851"/>
      <geometry>
        <mesh filename="package://rviz_basic/meshes/Limb0Roll1A_2.stl" scale="0.001 0.001 0.001"/>
      </geometry>
      <material name="silver"/>
    </visual>
    <collision>
      <origin rpy="0 0 0" xyz="-0.119533 0.124014 -0.650851"/>
      <geometry>
        <mesh filename="package://rviz_basic/meshes/Limb0Roll1A_2.stl" scale="0.001 0.001 0.001"/>
      </geometry>
    </collision>
  </link>
  <link name="Limb1Roll1A_1">
    <inertial>
      <origin rpy="0 0 0" xyz="0.0068174560772614745 0.006817440350725942 -0.008667904925205638"/>
      <mass value="0.8458457350592995"/>
      <inertia ixx="0.000391" ixy="6.4e-05" ixz="-8.1e-05" iyy="0.000391" iyz="-8.1e-05" izz="0.00043"/>
    </inertial>
    <visual>
      <origin rpy="0 0 0" xyz="-0.119564 -0.11968 -0.650944"/>
      <geometry>
        <mesh filename="package://rviz_basic/meshes/Limb1Roll1A_1.stl" scale="0.001 0.001 0.001"/>
      </geometry>
      <material name="silver"/>
    </visual>
    <collision>
      <origin rpy="0 0 0" xyz="-0.119564 -0.11968 -0.650944"/>
      <geometry>
        <mesh filename="package://rviz_basic/meshes/Limb1Roll1A_1.stl" scale="0.001 0.001 0.001"/>
      </geometry>
    </collision>
  </link>
  <link name="Limb1Connector1_1">
    <inertial>
      <origin rpy="0 0 0" xyz="0.0028824917358001995 0.002882476003268339 -0.003664716518054001"/>
      <mass value="0.41151751450909346"/>
      <inertia ixx="0.000202" ixy="4.2e-05" ixz="-5.4e-05" iyy="0.000202" iyz="-5.4e-05" izz="0.000228"/>
    </inertial>
    <visual>
      <origin rpy="0 0 0" xyz="-0.113779 -0.113895 -0.658298"/>
      <geometry>
        <mesh filename="package://rviz_basic/meshes/Limb1Connector1_1.stl" scale="0.001 0.001 0.001"/>
      </geometry>
      <material name="silver"/>
    </visual>
    <collision>
      <origin rpy="0 0 0" xyz="-0.113779 -0.113895 -0.658298"/>
      <geometry>
        <mesh filename="package://rviz_basic/meshes/Limb1Connector1_1.stl" scale="0.001 0.001 0.001"/>
      </geometry>
    </collision>
  </link>
  <link name="Limb3BodyConnector_1">
    <inertial>
      <origin rpy="0 0 0" xyz="-0.0067195403654506936 -0.0067773886454455395 -0.008504836469146682"/>
      <mass value="1.00227146305622"/>
      <inertia ixx="0.000536" ixy="8.8e-05" ixz="0.000112" iyy="0.000536" iyz="0.000112" izz="0.00059"/>
    </inertial>
    <visual>
      <origin rpy="0 0 0" xyz="0.104123 0.104063 -0.676307"/>
      <geometry>
        <mesh filename="package://rviz_basic/meshes/Limb3BodyConnector_1.stl" scale="0.001 0.001 0.001"/>
      </geometry>
      <material name="silver"/>
    </visual>
    <collision>
      <origin rpy="0 0 0" xyz="0.104123 0.104063 -0.676307"/>
      <geometry>
        <mesh filename="package://rviz_basic/meshes/Limb3BodyConnector_1.stl" scale="0.001 0.001 0.001"/>
      </geometry>
    </collision>
  </link>
  <link name="Body_connector__3__1">
    <inertial>
      <origin rpy="0 0 0" xyz="0.006720085539711471 0.006777019875838897 -0.00850483646812894"/>
      <mass value="1.00227146305622"/>
      <inertia ixx="0.000536" ixy="8.8e-05" ixz="-0.000112" iyy="0.000536" iyz="-0.000112" izz="0.00059"/>
    </inertial>
    <visual>
      <origin rpy="0 0 0" xyz="-0.099583 -0.099642 -0.676307"/>
      <geometry>
        <mesh filename="package://rviz_basic/meshes/Body_connector__3__1.stl" scale="0.001 0.001 0.001"/>
      </geometry>
      <material name="silver"/>
    </visual>
    <collision>
      <origin rpy="0 0 0" xyz="-0.099583 -0.099642 -0.676307"/>
      <geometry>
        <mesh filename="package://rviz_basic/meshes/Body_connector__3__1.stl" scale="0.001 0.001 0.001"/>
      </geometry>
    </collision>
  </link>
  <link name="Limb3Roll1A_1">
    <inertial>
      <origin rpy="0 0 0" xyz="-0.006817910907280164 -0.006817809112227194 -0.00866790492923275"/>
      <mass value="0.8458457350592995"/>
      <inertia ixx="0.000391" ixy="6.4e-05" ixz="8.1e-05" iyy="0.000391" iyz="8.1e-05" izz="0.00043"/>
    </inertial>
    <visual>
      <origin rpy="0 0 0" xyz="0.124103 0.124101 -0.650944"/>
      <geometry>
        <mesh filename="package://rviz_basic/meshes/Limb3Roll1A_1.stl" scale="0.001 0.001 0.001"/>
      </geometry>
      <material name="silver"/>
    </visual>
    <collision>
      <origin rpy="0 0 0" xyz="0.124103 0.124101 -0.650944"/>
      <geometry>
        <mesh filename="package://rviz_basic/meshes/Limb3Roll1A_1.stl" scale="0.001 0.001 0.001"/>
      </geometry>
    </collision>
  </link>
  <link name="Limb3Roll1B_1">
    <inertial>
      <origin rpy="0 0 0" xyz="-0.0013141700819927493 -0.0013150682869401131 -0.0016716503098570534"/>
      <mass value="0.1621742617893587"/>
      <inertia ixx="6.8e-05" ixy="1.5e-05" ixz="1.9e-05" iyy="6.8e-05" iyz="1.9e-05" izz="7.7e-05"/>
    </inertial>
    <visual>
      <origin rpy="0 0 0" xyz="0.137776 0.137773 -0.633562"/>
      <geometry>
        <mesh filename="package://rviz_basic/meshes/Limb3Roll1B_1.stl" scale="0.001 0.001 0.001"/>
      </geometry>
      <material name="silver"/>
    </visual>
    <collision>
      <origin rpy="0 0 0" xyz="0.137776 0.137773 -0.633562"/>
      <geometry>
        <mesh filename="package://rviz_basic/meshes/Limb3Roll1B_1.stl" scale="0.001 0.001 0.001"/>
      </geometry>
    </collision>
  </link>
  <link name="Limb3Pitch1A_1">
    <inertial>
      <origin rpy="0 0 0" xyz="-0.026223396061620913 -0.026226377146498864 -0.03333892243583103"/>
      <mass value="3.3477117479193077"/>
      <inertia ixx="0.003389" ixy="-0.000316" ixz="-0.000498" iyy="0.003392" iyz="-0.000501" izz="0.003225"/>
    </inertial>
    <visual>
      <origin rpy="0 0 0" xyz="0.140405 0.140403 -0.630219"/>
      <geometry>
        <mesh filename="package://rviz_basic/meshes/Limb3Pitch1A_1.stl" scale="0.001 0.001 0.001"/>
      </geometry>
      <material name="silver"/>
    </visual>
    <collision>
      <origin rpy="0 0 0" xyz="0.140405 0.140403 -0.630219"/>
      <geometry>
        <mesh filename="package://rviz_basic/meshes/Limb3Pitch1A_1.stl" scale="0.001 0.001 0.001"/>
      </geometry>
    </collision>
  </link>
  <link name="Limb3Pitch1B_1">
    <inertial>
      <origin rpy="0 0 0" xyz="-0.0682288131087779 -0.06822917142967264 -0.08674078127522311"/>
      <mass value="0.7729993259283914"/>
      <inertia ixx="0.001974" ixy="-0.000551" ixz="-0.000712" iyy="0.001974" iyz="-0.000712" izz="0.001638"/>
    </inertial>
    <visual>
      <origin rpy="0 0 0" xyz="0.17457 0.174572 -0.586784"/>
      <geometry>
        <mesh filename="package://rviz_basic/meshes/Limb3Pitch1B_1.stl" scale="0.001 0.001 0.001"/>
      </geometry>
      <material name="silver"/>
    </visual>
    <collision>
      <origin rpy="0 0 0" xyz="0.17457 0.174572 -0.586784"/>
      <geometry>
        <mesh filename="package://rviz_basic/meshes/Limb3Pitch1B_1.stl" scale="0.001 0.001 0.001"/>
      </geometry>
    </collision>
  </link>
  <link name="Limb3Pitch2A_1">
    <inertial>
      <origin rpy="0 0 0" xyz="-0.02995918481286336 -0.02995953450399086 -0.038087949313386216"/>
      <mass value="0.18660217560053788"/>
      <inertia ixx="0.0001" ixy="-0.0" ixz="3e-06" iyy="0.0001" iyz="3e-06" izz="9.9e-05"/>
    </inertial>
    <visual>
      <origin rpy="0 0 0" xyz="0.271854 0.271856 -0.463105"/>
      <geometry>
        <mesh filename="package://rviz_basic/meshes/Limb3Pitch2A_1.stl" scale="0.001 0.001 0.001"/>
      </geometry>
      <material name="silver"/>
    </visual>
    <collision>
      <origin rpy="0 0 0" xyz="0.271854 0.271856 -0.463105"/>
      <geometry>
        <mesh filename="package://rviz_basic/meshes/Limb3Pitch2A_1.stl" scale="0.001 0.001 0.001"/>
      </geometry>
    </collision>
  </link>
  <link name="Limb3Connector2_1">
    <inertial>
      <origin rpy="0 0 0" xyz="-0.002103580869851629 -0.0021039372810309764 -0.0026740387525512888"/>
      <mass value="0.028818583393616055"/>
      <inertia ixx="1e-05" ixy="2e-06" ixz="3e-06" iyy="1e-05" iyz="3e-06" izz="1.1e-05"/>
    </inertial>
    <visual>
      <origin rpy="0 0 0" xyz="0.316552 0.316554 -0.406279"/>
      <geometry>
        <mesh filename="package://rviz_basic/meshes/Limb3Connector2_1.stl" scale="0.001 0.001 0.001"/>
      </geometry>
      <material name="silver"/>
    </visual>
    <collision>
      <origin rpy="0 0 0" xyz="0.316552 0.316554 -0.406279"/>
      <geometry>
        <mesh filename="package://rviz_basic/meshes/Limb3Connector2_1.stl" scale="0.001 0.001 0.001"/>
      </geometry>
    </collision>
  </link>
  <link name="Limb3Connector3_1">
    <inertial>
      <origin rpy="0 0 0" xyz="-0.002072397909838819 -0.0020727543210186106 -0.002634839906469677"/>
      <mass value="0.028067093486926365"/>
      <inertia ixx="1e-05" ixy="2e-06" ixz="3e-06" iyy="1e-05" iyz="3e-06" izz="1.1e-05"/>
    </inertial>
    <visual>
      <origin rpy="0 0 0" xyz="0.320759 0.320761 -0.400931"/>
      <geometry>
        <mesh filename="package://rviz_basic/meshes/Limb3Connector3_1.stl" scale="0.001 0.001 0.001"/>
      </geometry>
      <material name="silver"/>
    </visual>
    <collision>
      <origin rpy="0 0 0" xyz="0.320759 0.320761 -0.400931"/>
      <geometry>
        <mesh filename="package://rviz_basic/meshes/Limb3Connector3_1.stl" scale="0.001 0.001 0.001"/>
      </geometry>
    </collision>
  </link>
  <link name="Limb3Roll2A_1">
    <inertial>
      <origin rpy="0 0 0" xyz="-0.006681183575417249 -0.006681539986598262 -0.008494527567581345"/>
      <mass value="0.09449902324417689"/>
      <inertia ixx="3.8e-05" ixy="6e-06" ixz="8e-06" iyy="3.8e-05" iyz="8e-06" izz="4.2e-05"/>
    </inertial>
    <visual>
      <origin rpy="0 0 0" xyz="0.324966 0.324968 -0.395583"/>
      <geometry>
        <mesh filename="package://rviz_basic/meshes/Limb3Roll2A_1.stl" scale="0.001 0.001 0.001"/>
      </geometry>
      <material name="silver"/>
    </visual>
    <collision>
      <origin rpy="0 0 0" xyz="0.324966 0.324968 -0.395583"/>
      <geometry>
        <mesh filename="package://rviz_basic/meshes/Limb3Roll2A_1.stl" scale="0.001 0.001 0.001"/>
      </geometry>
    </collision>
  </link>
  <link name="Limb3Roll2B_1">
    <inertial>
      <origin rpy="0 0 0" xyz="-0.0013150659058785985 -0.0013144223170601932 -0.0016712502447977506"/>
      <mass value="0.14254348347132964"/>
      <inertia ixx="5.3e-05" ixy="1.1e-05" ixz="1.4e-05" iyy="5.3e-05" iyz="1.4e-05" izz="6e-05"/>
    </inertial>
    <visual>
      <origin rpy="0 0 0" xyz="0.338112 0.338115 -0.378869"/>
      <geometry>
        <mesh filename="package://rviz_basic/meshes/Limb3Roll2B_1.stl" scale="0.001 0.001 0.001"/>
      </geometry>
      <material name="silver"/>
    </visual>
    <collision>
      <origin rpy="0 0 0" xyz="0.338112 0.338115 -0.378869"/>
      <geometry>
        <mesh filename="package://rviz_basic/meshes/Limb3Roll2B_1.stl" scale="0.001 0.001 0.001"/>
      </geometry>
    </collision>
  </link>
  <link name="Limb3Roll2C_1">
    <inertial>
      <origin rpy="0 0 0" xyz="-0.06879514358919397 0.003539260654662646 -0.040511776258231436"/>
      <mass value="5.5447698039525"/>
      <inertia ixx="0.007579" ixy="0.001164" ixz="-0.00462" iyy="0.015187" iyz="5.5e-05" izz="0.013379"/>
    </inertial>
    <visual>
      <origin rpy="0 0 0" xyz="0.340742 0.340744 -0.375526"/>
      <geometry>
        <mesh filename="package://rviz_basic/meshes/Limb3Roll2C_1.stl" scale="0.001 0.001 0.001"/>
      </geometry>
      <material name="silver"/>
    </visual>
    <collision>
      <origin rpy="0 0 0" xyz="0.340742 0.340744 -0.375526"/>
      <geometry>
        <mesh filename="package://rviz_basic/meshes/Limb3Roll2C_1.stl" scale="0.001 0.001 0.001"/>
      </geometry>
    </collision>
  </link>
  <link name="Limb3Pitch3A_1">
    <inertial>
      <origin rpy="0 0 0" xyz="0.0008923046235595478 -0.000875608458570154 -1.2835033048275157e-05"/>
      <mass value="0.07127174173566476"/>
      <inertia ixx="3.1e-05" ixy="-1e-05" ixz="-0.0" iyy="3.1e-05" iyz="0.0" izz="2.1e-05"/>
    </inertial>
    <visual>
      <origin rpy="0 0 0" xyz="0.44047 0.362698 -0.299219"/>
      <geometry>
        <mesh filename="package://rviz_basic/meshes/Limb3Pitch3A_1.stl" scale="0.001 0.001 0.001"/>
      </geometry>
      <material name="silver"/>
    </visual>
    <collision>
      <origin rpy="0 0 0" xyz="0.44047 0.362698 -0.299219"/>
      <geometry>
        <mesh filename="package://rviz_basic/meshes/Limb3Pitch3A_1.stl" scale="0.001 0.001 0.001"/>
      </geometry>
    </collision>
  </link>
  <link name="Limb3Pitch3B_1">
    <inertial>
      <origin rpy="0 0 0" xyz="0.0008925369018588647 -0.0008755595909240022 -1.3013443638243416e-05"/>
      <mass value="0.07127174173566476"/>
      <inertia ixx="3.1e-05" ixy="-1e-05" ixz="-0.0" iyy="3.1e-05" iyz="0.0" izz="2.1e-05"/>
    </inertial>
    <visual>
      <origin rpy="0 0 0" xyz="0.438686 0.364449 -0.299193"/>
      <geometry>
        <mesh filename="package://rviz_basic/meshes/Limb3Pitch3B_1.stl" scale="0.001 0.001 0.001"/>
      </geometry>
      <material name="silver"/>
    </visual>
    <collision>
      <origin rpy="0 0 0" xyz="0.438686 0.364449 -0.299193"/>
      <geometry>
        <mesh filename="package://rviz_basic/meshes/Limb3Pitch3B_1.stl" scale="0.001 0.001 0.001"/>
      </geometry>
    </collision>
  </link>
  <link name="Limb3Roll3A_1">
    <inertial>
      <origin rpy="0 0 0" xyz="0.029621488782770322 -0.029529732857189905 -0.000733538068181272"/>
      <mass value="2.8490901932138626"/>
      <inertia ixx="0.002326" ixy="0.000133" ixz="-0.000154" iyy="0.00232" iyz="-0.000172" izz="0.002505"/>
    </inertial>
    <visual>
      <origin rpy="0 0 0" xyz="0.436901 0.3662 -0.299167"/>
      <geometry>
        <mesh filename="package://rviz_basic/meshes/Limb3Roll3A_1.stl" scale="0.001 0.001 0.001"/>
      </geometry>
      <material name="silver"/>
    </visual>
    <collision>
      <origin rpy="0 0 0" xyz="0.436901 0.3662 -0.299167"/>
      <geometry>
        <mesh filename="package://rviz_basic/meshes/Limb3Roll3A_1.stl" scale="0.001 0.001 0.001"/>
      </geometry>
    </collision>
  </link>
  <link name="Limb3Roll3B_1">
    <inertial>
      <origin rpy="0 0 0" xyz="-0.002629377762947971 -0.0026297341741378655 -0.0033425127128941523"/>
      <mass value="0.28508696694265934"/>
      <inertia ixx="0.000107" ixy="2.2e-05" ixz="2.8e-05" iyy="0.000107" iyz="2.8e-05" izz="0.000121"/>
    </inertial>
    <visual>
      <origin rpy="0 0 0" xyz="0.42225 0.422252 -0.271903"/>
      <geometry>
        <mesh filename="package://rviz_basic/meshes/Limb3Roll3B_1.stl" scale="0.001 0.001 0.001"/>
      </geometry>
      <material name="silver"/>
    </visual>
    <collision>
      <origin rpy="0 0 0" xyz="0.42225 0.422252 -0.271903"/>
      <geometry>
        <mesh filename="package://rviz_basic/meshes/Limb3Roll3B_1.stl" scale="0.001 0.001 0.001"/>
      </geometry>
    </collision>
  </link>
  <link name="Limb0Connector1__1__1">
    <inertial>
      <origin rpy="0 0 0" xyz="-0.0028827546155695133 0.0028825646539996502 -0.0036642489463752925"/>
      <mass value="0.41151751450909346"/>
      <inertia ixx="0.000202" ixy="-4.2e-05" ixz="5.4e-05" iyy="0.000202" iyz="-5.4e-05" izz="0.000228"/>
    </inertial>
    <visual>
      <origin rpy="0 0 0" xyz="0.118378 -0.113809 -0.658277"/>
      <geometry>
        <mesh filename="package://rviz_basic/meshes/Limb0Connector1__1__1.stl" scale="0.001 0.001 0.001"/>
      </geometry>
      <material name="silver"/>
    </visual>
    <collision>
      <origin rpy="0 0 0" xyz="0.118378 -0.113809 -0.658277"/>
      <geometry>
        <mesh filename="package://rviz_basic/meshes/Limb0Connector1__1__1.stl" scale="0.001 0.001 0.001"/>
      </geometry>
    </collision>
  </link>
  <link name="Limb0Roll1A__1__1">
    <inertial>
      <origin rpy="0 0 0" xyz="-0.006817718959102798 0.0068175289975327125 -0.008667437354983987"/>
      <mass value="0.8458457350592995"/>
      <inertia ixx="0.000391" ixy="-6.4e-05" ixz="8.1e-05" iyy="0.000391" iyz="-8.1e-05" izz="0.00043"/>
    </inertial>
    <visual>
      <origin rpy="0 0 0" xyz="0.124163 -0.119594 -0.650923"/>
      <geometry>
        <mesh filename="package://rviz_basic/meshes/Limb0Roll1A__1__1.stl" scale="0.001 0.001 0.001"/>
      </geometry>
      <material name="silver"/>
    </visual>
    <collision>
      <origin rpy="0 0 0" xyz="0.124163 -0.119594 -0.650923"/>
      <geometry>
        <mesh filename="package://rviz_basic/meshes/Limb0Roll1A__1__1.stl" scale="0.001 0.001 0.001"/>
      </geometry>
    </collision>
  </link>
  <link name="Limb0Roll1B__1__1">
    <inertial>
      <origin rpy="0 0 0" xyz="-0.0013149781338154254 0.0013147881722458676 -0.0016711827356082898"/>
      <mass value="0.1621742617893587"/>
      <inertia ixx="6.8e-05" ixy="-1.5e-05" ixz="1.9e-05" iyy="6.8e-05" iyz="-1.9e-05" izz="7.7e-05"/>
    </inertial>
    <visual>
      <origin rpy="0 0 0" xyz="0.137835 -0.133266 -0.633541"/>
      <geometry>
        <mesh filename="package://rviz_basic/meshes/Limb0Roll1B__1__1.stl" scale="0.001 0.001 0.001"/>
      </geometry>
      <material name="silver"/>
    </visual>
    <collision>
      <origin rpy="0 0 0" xyz="0.137835 -0.133266 -0.633541"/>
      <geometry>
        <mesh filename="package://rviz_basic/meshes/Limb0Roll1B__1__1.stl" scale="0.001 0.001 0.001"/>
      </geometry>
    </collision>
  </link>
  <link name="Limb0Pitch1A__1__1">
    <inertial>
      <origin rpy="0 0 0" xyz="-0.026222083031917087 0.026225975950275843 -0.033340218510740094"/>
      <mass value="3.3477117479193077"/>
      <inertia ixx="0.003392" ixy="0.000316" ixz="-0.000501" iyy="0.003389" iyz="0.000499" izz="0.003225"/>
    </inertial>
    <visual>
      <origin rpy="0 0 0" xyz="0.140465 -0.135895 -0.630198"/>
      <geometry>
        <mesh filename="package://rviz_basic/meshes/Limb0Pitch1A__1__1.stl" scale="0.001 0.001 0.001"/>
      </geometry>
      <material name="silver"/>
    </visual>
    <collision>
      <origin rpy="0 0 0" xyz="0.140465 -0.135895 -0.630198"/>
      <geometry>
        <mesh filename="package://rviz_basic/meshes/Limb0Pitch1A__1__1.stl" scale="0.001 0.001 0.001"/>
      </geometry>
    </collision>
  </link>
  <link name="Limb0Pitch1B__1__1">
    <inertial>
      <origin rpy="0 0 0" xyz="-0.06822878474178282 0.06822905489615136 -0.08674120269560415"/>
      <mass value="0.7729993259283914"/>
      <inertia ixx="0.001974" ixy="0.000551" ixz="-0.000712" iyy="0.001974" iyz="0.000712" izz="0.001638"/>
    </inertial>
    <visual>
      <origin rpy="0 0 0" xyz="0.174628 -0.170063 -0.586761"/>
      <geometry>
        <mesh filename="package://rviz_basic/meshes/Limb0Pitch1B__1__1.stl" scale="0.001 0.001 0.001"/>
      </geometry>
      <material name="silver"/>
    </visual>
    <collision>
      <origin rpy="0 0 0" xyz="0.174628 -0.170063 -0.586761"/>
      <geometry>
        <mesh filename="package://rviz_basic/meshes/Limb0Pitch1B__1__1.stl" scale="0.001 0.001 0.001"/>
      </geometry>
    </collision>
  </link>
  <link name="Limb0Pitch2A__1__1">
    <inertial>
      <origin rpy="0 0 0" xyz="-0.029959154394446574 0.029959429359142975 -0.03808736338923474"/>
      <mass value="0.18660217560053788"/>
      <inertia ixx="0.0001" ixy="0.0" ixz="3e-06" iyy="0.0001" iyz="-3e-06" izz="9.9e-05"/>
    </inertial>
    <visual>
      <origin rpy="0 0 0" xyz="0.271912 -0.267347 -0.463081"/>
      <geometry>
        <mesh filename="package://rviz_basic/meshes/Limb0Pitch2A__1__1.stl" scale="0.001 0.001 0.001"/>
      </geometry>
      <material name="silver"/>
    </visual>
    <collision>
      <origin rpy="0 0 0" xyz="0.271912 -0.267347 -0.463081"/>
      <geometry>
        <mesh filename="package://rviz_basic/meshes/Limb0Pitch2A__1__1.stl" scale="0.001 0.001 0.001"/>
      </geometry>
    </collision>
  </link>
  <link name="Limb0Connector2__1__1">
    <inertial>
      <origin rpy="0 0 0" xyz="-0.002103557171485082 0.00210382541613241 -0.0026744528284016744"/>
      <mass value="0.028818583393616055"/>
      <inertia ixx="1e-05" ixy="-2e-06" ixz="3e-06" iyy="1e-05" iyz="-3e-06" izz="1.1e-05"/>
    </inertial>
    <visual>
      <origin rpy="0 0 0" xyz="0.31661 -0.312045 -0.406256"/>
      <geometry>
        <mesh filename="package://rviz_basic/meshes/Limb0Connector2__1__1.stl" scale="0.001 0.001 0.001"/>
      </geometry>
      <material name="silver"/>
    </visual>
    <collision>
      <origin rpy="0 0 0" xyz="0.31661 -0.312045 -0.406256"/>
      <geometry>
        <mesh filename="package://rviz_basic/meshes/Limb0Connector2__1__1.stl" scale="0.001 0.001 0.001"/>
      </geometry>
    </collision>
  </link>
  <link name="Limb0Connector3__1__1">
    <inertial>
      <origin rpy="0 0 0" xyz="-0.002072374211472272 0.0020726424561186008 -0.0026342539823204225"/>
      <mass value="0.028067093486926365"/>
      <inertia ixx="1e-05" ixy="-2e-06" ixz="3e-06" iyy="1e-05" iyz="-3e-06" izz="1.1e-05"/>
    </inertial>
    <visual>
      <origin rpy="0 0 0" xyz="0.320817 -0.316252 -0.400907"/>
      <geometry>
        <mesh filename="package://rviz_basic/meshes/Limb0Connector3__1__1.stl" scale="0.001 0.001 0.001"/>
      </geometry>
      <material name="silver"/>
    </visual>
    <collision>
      <origin rpy="0 0 0" xyz="0.320817 -0.316252 -0.400907"/>
      <geometry>
        <mesh filename="package://rviz_basic/meshes/Limb0Connector3__1__1.stl" scale="0.001 0.001 0.001"/>
      </geometry>
    </collision>
  </link>
  <link name="Limb0Roll2A__1__1">
    <inertial>
      <origin rpy="0 0 0" xyz="-0.006681159877050313 0.006681428121697641 -0.008493941643432423"/>
      <mass value="0.09449902324417689"/>
      <inertia ixx="3.8e-05" ixy="-6e-06" ixz="8e-06" iyy="3.8e-05" iyz="-8e-06" izz="4.2e-05"/>
    </inertial>
    <visual>
      <origin rpy="0 0 0" xyz="0.325024 -0.320459 -0.395559"/>
      <geometry>
        <mesh filename="package://rviz_basic/meshes/Limb0Roll2A__1__1.stl" scale="0.001 0.001 0.001"/>
      </geometry>
      <material name="silver"/>
    </visual>
    <collision>
      <origin rpy="0 0 0" xyz="0.325024 -0.320459 -0.395559"/>
      <geometry>
        <mesh filename="package://rviz_basic/meshes/Limb0Roll2A__1__1.stl" scale="0.001 0.001 0.001"/>
      </geometry>
    </collision>
  </link>
  <link name="Limb0Roll2B__1__1">
    <inertial>
      <origin rpy="0 0 0" xyz="-0.001315042207511441 0.0013143104521591842 -0.001671664320648858"/>
      <mass value="0.14254348347132964"/>
      <inertia ixx="5.3e-05" ixy="-1.1e-05" ixz="1.4e-05" iyy="5.3e-05" iyz="-1.4e-05" izz="6e-05"/>
    </inertial>
    <visual>
      <origin rpy="0 0 0" xyz="0.33817 -0.333606 -0.378846"/>
      <geometry>
        <mesh filename="package://rviz_basic/meshes/Limb0Roll2B__1__1.stl" scale="0.001 0.001 0.001"/>
      </geometry>
      <material name="silver"/>
    </visual>
    <collision>
      <origin rpy="0 0 0" xyz="0.33817 -0.333606 -0.378846"/>
      <geometry>
        <mesh filename="package://rviz_basic/meshes/Limb0Roll2B__1__1.stl" scale="0.001 0.001 0.001"/>
      </geometry>
    </collision>
  </link>
  <link name="Limb0Roll2C__1__1">
    <inertial>
      <origin rpy="0 0 0" xyz="0.0035396407642167005 0.06879538813547331 -0.04051219033408121"/>
      <mass value="5.5447698039525"/>
      <inertia ixx="0.015187" ixy="-0.001164" ixz="5.5e-05" iyy="0.007579" iyz="0.00462" izz="0.013379"/>
    </inertial>
    <visual>
      <origin rpy="0 0 0" xyz="0.3408 -0.336235 -0.375503"/>
      <geometry>
        <mesh filename="package://rviz_basic/meshes/Limb0Roll2C__1__1.stl" scale="0.001 0.001 0.001"/>
      </geometry>
      <material name="silver"/>
    </visual>
    <collision>
      <origin rpy="0 0 0" xyz="0.3408 -0.336235 -0.375503"/>
      <geometry>
        <mesh filename="package://rviz_basic/meshes/Limb0Roll2C__1__1.stl" scale="0.001 0.001 0.001"/>
      </geometry>
    </collision>
  </link>
  <link name="Limb0Pitch3A__1__1">
    <inertial>
      <origin rpy="0 0 0" xyz="-0.0008752283490133239 -0.0008920600772804876 -1.324910890049269e-05"/>
      <mass value="0.07127174173566476"/>
      <inertia ixx="3.1e-05" ixy="1e-05" ixz="0.0" iyy="3.1e-05" iyz="0.0" izz="2.1e-05"/>
    </inertial>
    <visual>
      <origin rpy="0 0 0" xyz="0.362754 -0.435963 -0.299196"/>
      <geometry>
        <mesh filename="package://rviz_basic/meshes/Limb0Pitch3A__1__1.stl" scale="0.001 0.001 0.001"/>
      </geometry>
      <material name="silver"/>
    </visual>
    <collision>
      <origin rpy="0 0 0" xyz="0.362754 -0.435963 -0.299196"/>
      <geometry>
        <mesh filename="package://rviz_basic/meshes/Limb0Pitch3A__1__1.stl" scale="0.001 0.001 0.001"/>
      </geometry>
    </collision>
  </link>
  <link name="Limb0Pitch3B__1__1">
    <inertial>
      <origin rpy="0 0 0" xyz="0.0008757716509866786 0.0008919399227195757 1.2750891099200246e-05"/>
      <mass value="0.07127174173566476"/>
      <inertia ixx="3.1e-05" ixy="1e-05" ixz="0.0" iyy="3.1e-05" iyz="0.0" izz="2.1e-05"/>
    </inertial>
    <visual>
      <origin rpy="0 0 0" xyz="0.364505 -0.434179 -0.29917"/>
      <geometry>
        <mesh filename="package://rviz_basic/meshes/Limb0Pitch3B__1__1.stl" scale="0.001 0.001 0.001"/>
      </geometry>
      <material name="silver"/>
    </visual>
    <collision>
      <origin rpy="0 0 0" xyz="0.364505 -0.434179 -0.29917"/>
      <geometry>
        <mesh filename="package://rviz_basic/meshes/Limb0Pitch3B__1__1.stl" scale="0.001 0.001 0.001"/>
      </geometry>
    </collision>
  </link>
  <link name="Limb0Roll3A__1__1">
    <inertial>
      <origin rpy="0 0 0" xyz="-0.029529401615279394 -0.02962201195819142 -0.0007337737334465744"/>
      <mass value="2.8490901932138626"/>
      <inertia ixx="0.00232" ixy="-0.000133" ixz="-0.000172" iyy="0.002326" iyz="0.000154" izz="0.002505"/>
    </inertial>
    <visual>
      <origin rpy="0 0 0" xyz="0.364505 -0.434179 -0.29917"/>
      <geometry>
        <mesh filename="package://rviz_basic/meshes/Limb0Roll3A__1__1.stl" scale="0.001 0.001 0.001"/>
      </geometry>
      <material name="silver"/>
    </visual>
    <collision>
      <origin rpy="0 0 0" xyz="0.364505 -0.434179 -0.29917"/>
      <geometry>
        <mesh filename="package://rviz_basic/meshes/Limb0Roll3A__1__1.stl" scale="0.001 0.001 0.001"/>
      </geometry>
    </collision>
  </link>
  <link name="Limb0Roll3B__1__1">
    <inertial>
      <origin rpy="0 0 0" xyz="-0.002629402932225411 0.0026288545875268188 -0.0033427483781611755"/>
      <mass value="0.28508696694265934"/>
      <inertia ixx="0.000107" ixy="-2.2e-05" ixz="2.8e-05" iyy="0.000107" iyz="-2.8e-05" izz="0.000121"/>
    </inertial>
    <visual>
      <origin rpy="0 0 0" xyz="0.420557 -0.419528 -0.271906"/>
      <geometry>
        <mesh filename="package://rviz_basic/meshes/Limb0Roll3B__1__1.stl" scale="0.001 0.001 0.001"/>
      </geometry>
      <material name="silver"/>
    </visual>
    <collision>
      <origin rpy="0 0 0" xyz="0.420557 -0.419528 -0.271906"/>
      <geometry>
        <mesh filename="package://rviz_basic/meshes/Limb0Roll3B__1__1.stl" scale="0.001 0.001 0.001"/>
      </geometry>
    </collision>
  </link>
  <link name="Limb3Wheel_1">
    <inertial>
      <origin rpy="0 0 0" xyz="-0.03313137155284268 -0.03313172796403646 -0.042121191623910065"/>
      <mass value="20.629366559155358"/>
      <inertia ixx="0.146499" ixy="0.022339" ixz="0.028399" iyy="0.146499" iyz="0.028399" izz="0.160265"/>
    </inertial>
    <visual>
      <origin rpy="0 0 0" xyz="0.427509 0.427511 -0.265218"/>
      <geometry>
        <mesh filename="package://rviz_basic/meshes/Limb3Wheel_1.stl" scale="0.001 0.001 0.001"/>
      </geometry>
      <material name="silver"/>
    </visual>
    <collision>
      <origin rpy="0 0 0" xyz="0.427509 0.427511 -0.265218"/>
      <geometry>
        <mesh filename="package://rviz_basic/meshes/Limb3Wheel_1.stl" scale="0.001 0.001 0.001"/>
      </geometry>
    </collision>
  </link>
  <link name="Limb2Wheel_1">
    <inertial>
      <origin rpy="0 0 0" xyz="-0.033131396722130446 0.03313184837742028 -0.042121427289172536"/>
      <mass value="20.629366559155358"/>
      <inertia ixx="0.146499" ixy="-0.022339" ixz="0.028399" iyy="0.146499" iyz="-0.028399" izz="0.160265"/>
    </inertial>
    <visual>
      <origin rpy="0 0 0" xyz="0.425816 -0.424786 -0.265221"/>
      <geometry>
        <mesh filename="package://rviz_basic/meshes/Limb2Wheel_1.stl" scale="0.001 0.001 0.001"/>
      </geometry>
      <material name="silver"/>
    </visual>
    <collision>
      <origin rpy="0 0 0" xyz="0.425816 -0.424786 -0.265221"/>
      <geometry>
        <mesh filename="package://rviz_basic/meshes/Limb2Wheel_1.stl" scale="0.001 0.001 0.001"/>
      </geometry>
    </collision>
  </link>
  <link name="Limb0Wheel_1">
    <inertial>
      <origin rpy="0 0 0" xyz="0.03313181235243107 -0.03313129052002134 -0.042121007885148914"/>
      <mass value="20.629366559155358"/>
      <inertia ixx="0.146499" ixy="-0.022339" ixz="-0.028399" iyy="0.146499" iyz="0.028399" izz="0.160265"/>
    </inertial>
    <visual>
      <origin rpy="0 0 0" xyz="-0.422937 0.427423 -0.265123"/>
      <geometry>
        <mesh filename="package://rviz_basic/meshes/Limb0Wheel_1.stl" scale="0.001 0.001 0.001"/>
      </geometry>
      <material name="silver"/>
    </visual>
    <collision>
      <origin rpy="0 0 0" xyz="-0.422937 0.427423 -0.265123"/>
      <geometry>
        <mesh filename="package://rviz_basic/meshes/Limb0Wheel_1.stl" scale="0.001 0.001 0.001"/>
      </geometry>
    </collision>
  </link>
  <link name="Limb1Wheel_1">
    <inertial>
      <origin rpy="0 0 0" xyz="0.033131543108578854 0.033132069379244455 -0.0421210732205399"/>
      <mass value="20.629366559155358"/>
      <inertia ixx="0.146499" ixy="0.022339" ixz="-0.028399" iyy="0.146499" iyz="-0.028399" izz="0.160265"/>
    </inertial>
    <visual>
      <origin rpy="0 0 0" xyz="-0.422972 -0.423083 -0.265215"/>
      <geometry>
        <mesh filename="package://rviz_basic/meshes/Limb1Wheel_1.stl" scale="0.001 0.001 0.001"/>
      </geometry>
      <material name="silver"/>
    </visual>
    <collision>
      <origin rpy="0 0 0" xyz="-0.422972 -0.423083 -0.265215"/>
      <geometry>
        <mesh filename="package://rviz_basic/meshes/Limb1Wheel_1.stl" scale="0.001 0.001 0.001"/>
      </geometry>
    </collision>
  </link>
  <link name="Connector4_1">
    <inertial>
      <origin rpy="0 0 0" xyz="-0.002901887715433857 -0.00290178592038004 -0.003690068112437328"/>
      <mass value="0.41151751450909346"/>
      <inertia ixx="0.000202" ixy="4.2e-05" ixz="5.4e-05" iyy="0.000202" iyz="5.4e-05" izz="0.000228"/>
    </inertial>
    <visual>
      <origin rpy="0 0 0" xyz="0.118319 0.118317 -0.658298"/>
      <geometry>
        <mesh filename="package://rviz_basic/meshes/Connector4_1.stl" scale="0.001 0.001 0.001"/>
      </geometry>
      <material name="silver"/>
    </visual>
    <collision>
      <origin rpy="0 0 0" xyz="0.118319 0.118317 -0.658298"/>
      <geometry>
        <mesh filename="package://rviz_basic/meshes/Connector4_1.stl" scale="0.001 0.001 0.001"/>
      </geometry>
    </collision>
  </link>
  <joint name="Rigid 12" type="fixed">
    <origin rpy="0 0 0" xyz="-0.104123 0.099642 0.676307"/>
    <parent link="base_link"/>
    <child link="Body_connector_5"/>
  </joint>
  <joint name="Rigid 14" type="fixed">
    <origin rpy="0 0 0" xyz="0.044699 -0.044698 -0.056826"/>
    <parent link="Limb0Pitch2A_2"/>
    <child link="Limb0Connector2_2"/>
  </joint>
  <joint name="Limb0Pitch2" type="continuous">
    <origin rpy="0 0 0" xyz="0.097284 -0.097284 -0.123679"/>
    <parent link="Limb0Pitch1B_2"/>
    <child link="Limb0Pitch2A_2"/>
    <axis xyz="0.527675 0.818143 -0.228478"/>
  </joint>
  <joint name="Limb0Pitch1" type="continuous">
    <origin rpy="0 0 0" xyz="0.034163 -0.034169 -0.043437"/>
    <parent link="Limb0Pitch1A_2"/>
    <child link="Limb0Pitch1B_2"/>
    <axis xyz="0.527675 0.818143 -0.228478"/>
  </joint>
  <joint name="Rigid 17" type="fixed">
    <origin rpy="0 0 0" xyz="0.002629 -0.002629 -0.003343"/>
    <parent link="Limb0Roll1B_2"/>
    <child link="Limb0Pitch1A_2"/>
  </joint>
  <joint name="Limb0Roll1" type="continuous">
    <origin rpy="0 0 0" xyz="0.013673 -0.013672 -0.017382"/>
    <parent link="Limb0Roll1A_2"/>
    <child link="Limb0Roll1B_2"/>
    <axis xyz="0.52586 -0.52586 -0.668537"/>
  </joint>
  <joint name="Rigid 43" type="fixed">
    <origin rpy="0 0 0" xyz="0.004206 -0.004207 -0.005348"/>
    <parent link="Limb0Connector2_2"/>
    <child link="Limb0Connector3_3"/>
  </joint>
  <joint name="Rigid 44" type="fixed">
    <origin rpy="0 0 0" xyz="0.004207 -0.004207 -0.005348"/>
    <parent link="Limb0Connector3_3"/>
    <child link="Limb0Roll2A_3"/>
  </joint>
  <joint name="Limb0Roll2" type="continuous">
    <origin rpy="0 0 0" xyz="0.013147 -0.013146 -0.016714"/>
    <parent link="Limb0Roll2A_3"/>
    <child link="Limb0Roll2B_2"/>
    <axis xyz="-0.52586 0.52586 0.668537"/>
  </joint>
  <joint name="Rigid 46" type="fixed">
    <origin rpy="0 0 0" xyz="0.002629 -0.00263 -0.003342"/>
    <parent link="Limb0Roll2B_2"/>
    <child link="Limb0Roll2C_2"/>
  </joint>
  <joint name="Rigid 47" type="fixed">
    <origin rpy="0 0 0" xyz="0.02541 -0.102493 -0.071414"/>
    <parent link="Limb0Roll2C_2"/>
    <child link="Limb0Pitch3A_2"/>
  </joint>
  <joint name="Limb0Pitch3" type="continuous">
    <origin rpy="0 0 0" xyz="0.001594 0.00191 -0.000248"/>
    <parent link="Limb0Pitch3A_2"/>
    <child link="Limb0Pitch3B_2"/>
    <axis xyz="0.637539 0.763972 -0.09945"/>
  </joint>
  <joint name="Rigid 49" type="fixed">
    <origin rpy="0 0 0" xyz="0.001594 0.00191 -0.000249"/>
    <parent link="Limb0Pitch3B_2"/>
    <child link="Limb0Roll3A_2"/>
  </joint>
  <joint name="Limb0Roll3" type="continuous">
    <origin rpy="0 0 0" xyz="0.052911 0.017165 -0.031713"/>
    <parent link="Limb0Roll3A_2"/>
    <child link="Limb0Roll3B_2"/>
    <axis xyz="0.52586 -0.52586 -0.668537"/>
  </joint>
  <joint name="Revolute 53" type="continuous">
    <origin rpy="0 0 0" xyz="0.013672 0.013672 -0.017382"/>
    <parent link="Limb1Roll1A_1"/>
    <child link="Limb1Roll1B_1"/>
    <axis xyz="0.52586 0.52586 -0.668537"/>
  </joint>
  <joint name="Rigid 54" type="fixed">
    <origin rpy="0 0 0" xyz="0.002629 0.002629 -0.003343"/>
    <parent link="Limb1Roll1B_1"/>
    <child link="Limb1Pitch1A_1"/>
  </joint>
  <joint name="Limb1Pitch1" type="continuous">
    <origin rpy="0 0 0" xyz="0.034168 0.034164 -0.043438"/>
    <parent link="Limb1Pitch1A_1"/>
    <child link="Limb1Pitch1B_1"/>
    <axis xyz="-0.713693 0.70038 -0.010471"/>
  </joint>
  <joint name="Limb1Pitch2" type="continuous">
    <origin rpy="0 0 0" xyz="0.097284 0.097284 -0.123679"/>
    <parent link="Limb1Pitch1B_1"/>
    <child link="Limb1Pitch2A_1"/>
    <axis xyz="0.713693 -0.70038 0.010471"/>
  </joint>
  <joint name="Rigid 57" type="fixed">
    <origin rpy="0 0 0" xyz="0.044698 0.044698 -0.056826"/>
    <parent link="Limb1Pitch2A_1"/>
    <child link="Limb1Connector2_1"/>
  </joint>
  <joint name="Rigid 58" type="fixed">
    <origin rpy="0 0 0" xyz="0.004207 0.004207 -0.005348"/>
    <parent link="Limb1Connector2_1"/>
    <child link="Limb1Connector3_1"/>
  </joint>
  <joint name="Rigid 59" type="fixed">
    <origin rpy="0 0 0" xyz="0.004207 0.004207 -0.005348"/>
    <parent link="Limb1Connector3_1"/>
    <child link="Limb1Roll2A_1"/>
  </joint>
  <joint name="Limb1Roll2" type="continuous">
    <origin rpy="0 0 0" xyz="0.013147 0.013146 -0.016714"/>
    <parent link="Limb1Roll2A_1"/>
    <child link="Limb1Roll2B_1"/>
    <axis xyz="0.52586 0.52586 -0.668537"/>
  </joint>
  <joint name="Rigid 61" type="fixed">
    <origin rpy="0 0 0" xyz="0.002629 0.002629 -0.003342"/>
    <parent link="Limb1Roll2B_1"/>
    <child link="LimbRoll2C__1__1"/>
  </joint>
  <joint name="Rigid 62" type="fixed">
    <origin rpy="0 0 0" xyz="0.099728 0.021954 -0.076308"/>
    <parent link="LimbRoll2C__1__1"/>
    <child link="Limb1Pitch3A_1"/>
  </joint>
  <joint name="Revolute 63" type="continuous">
    <origin rpy="0 0 0" xyz="-0.001784 0.001751 -2.6e-05"/>
    <parent link="Limb1Pitch3A_1"/>
    <child link="Limb1Pitch3B_1"/>
    <axis xyz="-0.713693 0.70038 -0.010471"/>
  </joint>
  <joint name="Rigid 64" type="fixed">
    <origin rpy="0 0 0" xyz="-0.001784 0.001751 -2.6e-05"/>
    <parent link="Limb1Pitch3B_1"/>
    <child link="Limb1Roll3A_1"/>
  </joint>
  <joint name="Revolute 65" type="continuous">
    <origin rpy="0 0 0" xyz="-0.014652 0.056053 -0.027264"/>
    <parent link="Limb1Roll3A_1"/>
    <child link="Limb1Roll3B_1"/>
    <axis xyz="0.52586 0.52586 -0.668537"/>
  </joint>
  <joint name="Rigid 66" type="fixed">
    <origin rpy="0 0 0" xyz="0.014166 -0.014166 -0.018102"/>
    <parent link="Body_connector__2__1"/>
    <child link="Limb0Connector1_1"/>
  </joint>
  <joint name="Rigid 67" type="fixed">
    <origin rpy="0 0 0" xyz="0.099583 -0.104063 0.676307"/>
    <parent link="base_link"/>
    <child link="Body_connector__2__1"/>
  </joint>
  <joint name="Rigid 68" type="fixed">
    <origin rpy="0 0 0" xyz="0.005784 -0.005785 -0.007354"/>
    <parent link="Limb0Connector1_1"/>
    <child link="Limb0Roll1A_2"/>
  </joint>
  <joint name="Rigid 69" type="fixed">
    <origin rpy="0 0 0" xyz="0.005785 0.005785 -0.007354"/>
    <parent link="Limb1Connector1_1"/>
    <child link="Limb1Roll1A_1"/>
  </joint>
  <joint name="Rigid 70" type="fixed">
    <origin rpy="0 0 0" xyz="0.014196 0.014253 -0.018009"/>
    <parent link="Body_connector__3__1"/>
    <child link="Limb1Connector1_1"/>
  </joint>
  <joint name="Rigid 71" type="fixed">
    <origin rpy="0 0 0" xyz="-0.104123 -0.104063 0.676307"/>
    <parent link="base_link"/>
    <child link="Limb3BodyConnector_1"/>
  </joint>
  <joint name="Rigid 72" type="fixed">
    <origin rpy="0 0 0" xyz="0.099583 0.099642 0.676307"/>
    <parent link="base_link"/>
    <child link="Body_connector__3__1"/>
  </joint>
  <joint name="Rigid 74" type="fixed">
    <origin rpy="0 0 0" xyz="-0.005784 -0.005784 -0.007354"/>
    <parent link="Connector4_1"/>
    <child link="Limb3Roll1A_1"/>
  </joint>
  <joint name="Limb3Roll1" type="continuous">
    <origin rpy="0 0 0" xyz="-0.013673 -0.013672 -0.017382"/>
    <parent link="Limb3Roll1A_1"/>
    <child link="Limb3Roll1B_1"/>
    <axis xyz="-0.52586 -0.52586 -0.668537"/>
  </joint>
  <joint name="Rigid 76" type="fixed">
    <origin rpy="0 0 0" xyz="-0.002629 -0.00263 -0.003343"/>
    <parent link="Limb3Roll1B_1"/>
    <child link="Limb3Pitch1A_1"/>
  </joint>
  <joint name="Limb3Pitch1" type="continuous">
    <origin rpy="0 0 0" xyz="-0.034165 -0.034169 -0.043435"/>
    <parent link="Limb3Pitch1A_1"/>
    <child link="Limb3Pitch1B_1"/>
    <axis xyz="-0.713693 0.70038 0.010471"/>
  </joint>
  <joint name="Limb3Pitch2" type="continuous">
    <origin rpy="0 0 0" xyz="-0.097284 -0.097284 -0.123679"/>
    <parent link="Limb3Pitch1B_1"/>
    <child link="Limb3Pitch2A_1"/>
    <axis xyz="-0.713693 0.70038 0.010471"/>
  </joint>
  <joint name="Rigid 79" type="fixed">
    <origin rpy="0 0 0" xyz="-0.044698 -0.044698 -0.056826"/>
    <parent link="Limb3Pitch2A_1"/>
    <child link="Limb3Connector2_1"/>
  </joint>
  <joint name="Rigid 80" type="fixed">
    <origin rpy="0 0 0" xyz="-0.004207 -0.004207 -0.005348"/>
    <parent link="Limb3Connector2_1"/>
    <child link="Limb3Connector3_1"/>
  </joint>
  <joint name="Rigid 81" type="fixed">
    <origin rpy="0 0 0" xyz="-0.004207 -0.004207 -0.005348"/>
    <parent link="Limb3Connector3_1"/>
    <child link="Limb3Roll2A_1"/>
  </joint>
  <joint name="Limb3Roll2" type="continuous">
    <origin rpy="0 0 0" xyz="-0.013146 -0.013147 -0.016714"/>
    <parent link="Limb3Roll2A_1"/>
    <child link="Limb3Roll2B_1"/>
    <axis xyz="-0.52586 -0.52586 -0.668537"/>
  </joint>
  <joint name="Rigid 83" type="fixed">
    <origin rpy="0 0 0" xyz="-0.00263 -0.002629 -0.003343"/>
    <parent link="Limb3Roll2B_1"/>
    <child link="Limb3Roll2C_1"/>
  </joint>
  <joint name="Rigid 84" type="fixed">
    <origin rpy="0 0 0" xyz="-0.099728 -0.021954 -0.076307"/>
    <parent link="Limb3Roll2C_1"/>
    <child link="Limb3Pitch3A_1"/>
  </joint>
  <joint name="Limb3Pitch3" type="continuous">
    <origin rpy="0 0 0" xyz="0.001784 -0.001751 -2.6e-05"/>
    <parent link="Limb3Pitch3A_1"/>
    <child link="Limb3Pitch3B_1"/>
    <axis xyz="0.713693 -0.70038 -0.010471"/>
  </joint>
  <joint name="Rigid 86" type="fixed">
    <origin rpy="0 0 0" xyz="0.001785 -0.001751 -2.6e-05"/>
    <parent link="Limb3Pitch3B_1"/>
    <child link="Limb3Roll3A_1"/>
  </joint>
  <joint name="Limb3Roll3" type="continuous">
    <origin rpy="0 0 0" xyz="0.014651 -0.056052 -0.027264"/>
    <parent link="Limb3Roll3A_1"/>
    <child link="Limb3Roll3B_1"/>
    <axis xyz="-0.52586 -0.52586 -0.668537"/>
  </joint>
  <joint name="Rigid 88" type="fixed">
    <origin rpy="0 0 0" xyz="-0.014255 0.014167 -0.01803"/>
    <parent link="Body_connector_5"/>
    <child link="Limb0Connector1__1__1"/>
  </joint>
  <joint name="Rigid 89" type="fixed">
    <origin rpy="0 0 0" xyz="-0.005785 0.005785 -0.007354"/>
    <parent link="Limb0Connector1__1__1"/>
    <child link="Limb0Roll1A__1__1"/>
  </joint>
  <joint name="Limb2Roll1" type="continuous">
    <origin rpy="0 0 0" xyz="-0.013672 0.013672 -0.017382"/>
    <parent link="Limb0Roll1A__1__1"/>
    <child link="Limb0Roll1B__1__1"/>
    <axis xyz="-0.52586 0.52586 -0.668537"/>
  </joint>
  <joint name="Rigid 91" type="fixed">
    <origin rpy="0 0 0" xyz="-0.00263 0.002629 -0.003343"/>
    <parent link="Limb0Roll1B__1__1"/>
    <child link="Limb0Pitch1A__1__1"/>
  </joint>
  <joint name="Limb2Pitch1" type="continuous">
    <origin rpy="0 0 0" xyz="-0.034163 0.034168 -0.043437"/>
    <parent link="Limb0Pitch1A__1__1"/>
    <child link="Limb0Pitch1B__1__1"/>
    <axis xyz="-0.70038 -0.713693 -0.010471"/>
  </joint>
  <joint name="Limb2Pitch2" type="continuous">
    <origin rpy="0 0 0" xyz="-0.097284 0.097284 -0.12368"/>
    <parent link="Limb0Pitch1B__1__1"/>
    <child link="Limb0Pitch2A__1__1"/>
    <axis xyz="-0.70038 -0.713693 -0.010471"/>
  </joint>
  <joint name="Rigid 94" type="fixed">
    <origin rpy="0 0 0" xyz="-0.044698 0.044698 -0.056825"/>
    <parent link="Limb0Pitch2A__1__1"/>
    <child link="Limb0Connector2__1__1"/>
  </joint>
  <joint name="Rigid 95" type="fixed">
    <origin rpy="0 0 0" xyz="-0.004207 0.004207 -0.005349"/>
    <parent link="Limb0Connector2__1__1"/>
    <child link="Limb0Connector3__1__1"/>
  </joint>
  <joint name="Rigid 96" type="fixed">
    <origin rpy="0 0 0" xyz="-0.004207 0.004207 -0.005348"/>
    <parent link="Limb0Connector3__1__1"/>
    <child link="Limb0Roll2A__1__1"/>
  </joint>
  <joint name="Limb2Roll2" type="continuous">
    <origin rpy="0 0 0" xyz="-0.013146 0.013147 -0.016713"/>
    <parent link="Limb0Roll2A__1__1"/>
    <child link="Limb0Roll2B__1__1"/>
    <axis xyz="-0.52586 0.52586 -0.668537"/>
  </joint>
  <joint name="Rigid 98" type="fixed">
    <origin rpy="0 0 0" xyz="-0.00263 0.002629 -0.003343"/>
    <parent link="Limb0Roll2B__1__1"/>
    <child link="Limb0Roll2C__1__1"/>
  </joint>
  <joint name="Rigid 99" type="fixed">
    <origin rpy="0 0 0" xyz="-0.021954 0.099728 -0.076307"/>
    <parent link="Limb0Roll2C__1__1"/>
    <child link="Limb0Pitch3A__1__1"/>
  </joint>
  <joint name="Limb2Pitch3" type="continuous">
    <origin rpy="0 0 0" xyz="-0.001751 -0.001784 -2.6e-05"/>
    <parent link="Limb0Pitch3A__1__1"/>
    <child link="Limb0Pitch3B__1__1"/>
    <axis xyz="-0.70038 -0.713693 -0.010471"/>
  </joint>
  <joint name="Rigid 101" type="fixed">
    <origin rpy="0 0 0" xyz="0.0 0.0 0.0"/>
    <parent link="Limb0Pitch3B__1__1"/>
    <child link="Limb0Roll3A__1__1"/>
  </joint>
  <joint name="Limb2Roll3" type="continuous">
    <origin rpy="0 0 0" xyz="-0.056052 -0.014651 -0.027264"/>
    <parent link="Limb0Roll3A__1__1"/>
    <child link="Limb0Roll3B__1__1"/>
    <axis xyz="-0.52586 0.52586 -0.668537"/>
  </joint>
  <joint name="Rigid 103" type="fixed">
    <origin rpy="0 0 0" xyz="-0.005259 -0.005259 -0.006685"/>
    <parent link="Limb3Roll3B_1"/>
    <child link="Limb3Wheel_1"/>
  </joint>
  <joint name="Rigid 104" type="fixed">
    <origin rpy="0 0 0" xyz="-0.005259 0.005258 -0.006685"/>
    <parent link="Limb0Roll3B__1__1"/>
    <child link="Limb2Wheel_1"/>
  </joint>
  <joint name="Rigid 105" type="fixed">
    <origin rpy="0 0 0" xyz="0.005258 -0.005259 -0.006685"/>
    <parent link="Limb0Roll3B_2"/>
    <child link="Limb0Wheel_1"/>
  </joint>
  <joint name="Rigid 106" type="fixed">
    <origin rpy="0 0 0" xyz="0.005259 0.005258 -0.006685"/>
    <parent link="Limb1Roll3B_1"/>
    <child link="Limb1Wheel_1"/>
  </joint>
  <joint name="Rigid 107" type="fixed">
    <origin rpy="0 0 0" xyz="-0.014196 -0.014254 -0.018009"/>
    <parent link="Limb3BodyConnector_1"/>
    <child link="Connector4_1"/>
  </joint>
</robot>
